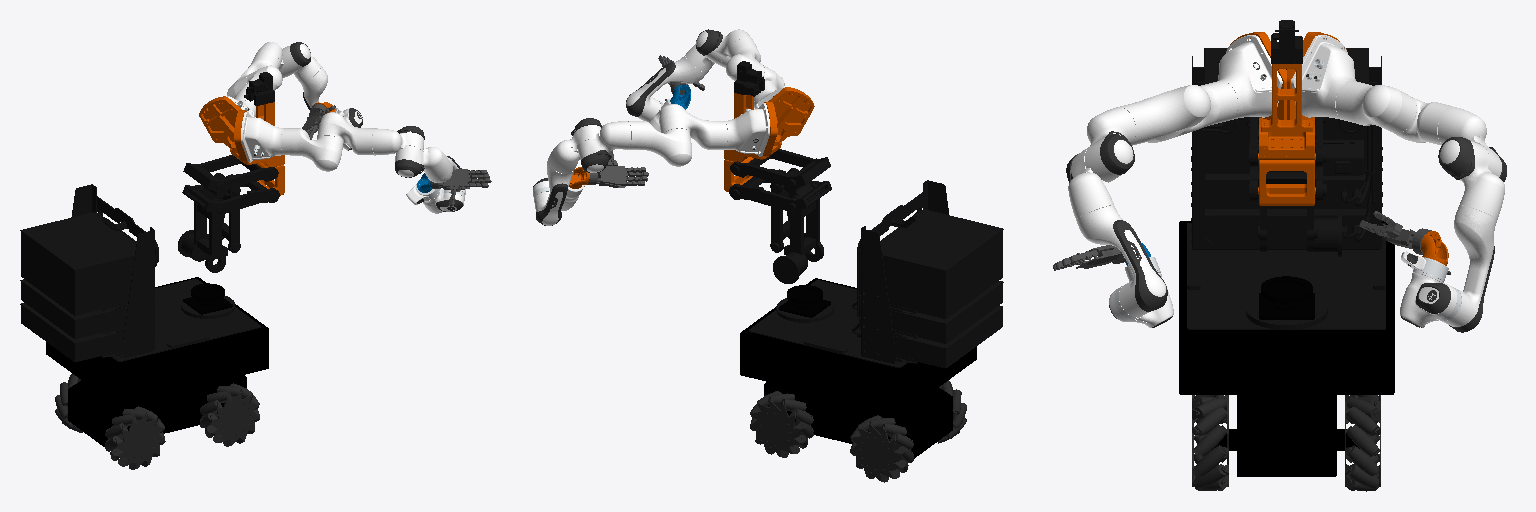
--- Facts derived from the render (not from the file) ---
Views: 3 orthographic renders of the robot side by side, from view 1: azimuth 30°, elevation 25°; view 2: azimuth 150°, elevation 25°; view 3: azimuth 270°, elevation 25°.
Robot: curi — 114 links, 113 joints (91 revolute, 4 continuous, 17 fixed, 1 floating); root link world; default pose: joints at zero except 2 at the middle of their limits (panda_left_joint4 = -1.57, panda_right_joint4 = -1.57).
Visible links, largest first — view 1: control_box, summit_xls_base_link, torso_end, summit_xls_back_right_wheel_link, summit_xls_front_right_wheel_link, torso_link_b2, panda_right_link1, torso_link_c2, panda_right_link0, torso_link_c1, panda_right_link4, panda_right_link2 (+8 smaller); view 2: control_box, summit_xls_base_link, torso_end, summit_xls_back_left_wheel_link, summit_xls_front_left_wheel_link, torso_link_b2, panda_right_link5, panda_left_link2, torso_link_c2, panda_left_link1, panda_left_link0, panda_left_link3 (+9 smaller); view 3: control_box, summit_xls_base_link, torso_end, panda_right_link5, panda_left_link5, panda_right_link0, panda_left_link0, summit_xls_front_right_wheel_link, panda_right_link2, panda_left_link4, summit_xls_front_left_wheel_link, panda_left_link1 (+16 smaller).
Link boxes in pixels (x1,y1,x2,y2): control_box: (20, 184, 260, 361); summit_xls_base_link: (46, 277, 268, 446); torso_end: (199, 96, 284, 195); summit_xls_back_right_wheel_link: (105, 406, 165, 469); summit_xls_front_right_wheel_link: (200, 383, 259, 446); torso_link_b2: (178, 187, 227, 272); panda_right_link1: (281, 128, 342, 171); torso_link_c2: (183, 155, 278, 192); panda_right_link0: (241, 112, 283, 162); torso_link_c1: (182, 174, 279, 215); panda_right_link4: (395, 145, 449, 177); panda_right_link2: (317, 112, 375, 155); control_box: (749, 180, 1003, 368); summit_xls_base_link: (740, 278, 976, 458); torso_end: (724, 87, 814, 191); summit_xls_back_left_wheel_link: (850, 415, 913, 482); summit_xls_front_left_wheel_link: (750, 391, 813, 457); torso_link_b2: (773, 183, 823, 283); panda_right_link5: (626, 54, 706, 121); panda_left_link2: (628, 121, 691, 166); torso_link_c2: (730, 149, 830, 188); panda_left_link1: (659, 104, 727, 149); panda_left_link0: (724, 103, 769, 156); panda_left_link3: (578, 121, 630, 172); control_box: (1187, 48, 1385, 329); summit_xls_base_link: (1179, 221, 1394, 476); torso_end: (1227, 32, 1346, 205); panda_right_link5: (1076, 205, 1167, 316); panda_left_link5: (1442, 205, 1496, 332); panda_right_link0: (1218, 35, 1282, 120); panda_left_link0: (1291, 35, 1355, 119); summit_xls_front_right_wheel_link: (1192, 397, 1228, 490); panda_right_link2: (1120, 85, 1210, 145); panda_left_link4: (1438, 137, 1504, 219); summit_xls_front_left_wheel_link: (1345, 397, 1380, 491); panda_left_link1: (1336, 81, 1416, 132).
Size in the robot's own frame: 1.76 by 1.22 by 1.51 metres.
75 mesh visuals loaded from 34 distinct referenced files (9 binary STL, 22 Collada DAE); not drawn: 3 (reference not matched to a file when rendering).

URDF robot description (curi):
<?xml version="1.0" ?>
<!-- =================================================================================== -->
<!-- |    This document was autogenerated by xacro from ../robots/curi.urdf.xacro      | -->
<!-- |    EDITING THIS FILE BY HAND IS NOT RECOMMENDED                                 | -->
<!-- =================================================================================== -->
<robot name="curi">
  <!-- in kg-->
  <!-- =============================================================== -->
  <!-- || This file does not contain official inertial properties   || -->
  <!-- || of panda robot. The values are from the identification    || -->
  <!-- || results published in: Identification of the Franka Emika  || -->
  <!-- || PandaRobot With Retrieval of Feasible Parameters Using    || -->
  <!-- || Penalty-Based Optimization                                || -->
  <!-- || by: Claudio Gaz, Marco Cognetti, Alexander Oliva,         || -->
  <!-- || Paolo Robuffo Giordano, Alessandro de Luca                || -->
  <!-- =============================================================== -->
  <link name="world"/>
  <material name="qbhand/optional">
  <color rgba="0.0 0.5 0.8 1.0"/>
  </material>
  <material name="qbhand/base">
    <color rgba="0.35 0.35 0.35 1.0"/>
  </material>
  <material name="qbhand/palm">
    <color rgba="0.35 0.35 0.35 1.0"/>
  </material>
  <material name="qbhand/knuckle">
    <color rgba="0.35 0.35 0.35 1.0"/>
  </material>
  <material name="qbhand/proximal">
    <color rgba="0.35 0.35 0.35 1.0"/>
  </material>
  <material name="qbhand/middle">
    <color rgba="0.35 0.35 0.35 1.0"/>
  </material>
  <material name="qbhand/distal">
    <color rgba="0.35 0.35 0.35 1.0"/>
  </material>
  <material name="qbhand/default">
    <color rgba="0.35 0.35 0.35 1.0"/>
  </material>
  <joint name="reference" type="floating">
    <parent link="world"/>
    <child link="summit_xls_base_footprint"/>
  </joint>
  <link name="summit_xls_base_footprint">
    <visual>
      <origin rpy="0 0 0" xyz="0 0 0"/>
      <geometry>
        <box size="0.001 0.001 0.001"/>
      </geometry>
    </visual>
  </link>
  <joint name="summit_xls_base_footprint_joint" type="fixed">
    <origin rpy="0 0 0" xyz="0 0 0.127"/>
    <parent link="summit_xls_base_footprint"/>
    <child link="summit_xls_base_link"/>
  </joint>
  <!-- BASE_LINK -->
  <link name="summit_xls_base_link">
    <inertial>
      <mass value="125.0"/>
      <origin xyz="0 0 0"/>
      <inertia ixx="1.391" ixy="0.004" ixz="0.0" iyy="6.853" iyz="0.0" izz="6.125"/>
    </inertial>
    <visual>
      <origin rpy="0 0 0" xyz="0 0 0"/>
      <geometry>
        <mesh filename="../meshes/robotnik/bases/summit_xls_chassis.dae"/>
      </geometry>
      <material name="black">
        <color rgba="0.0 0.0 0.0 1"/>
      </material>
    </visual>
    <collision>
      <origin rpy="0 0 0 " xyz="0 0 0"/>
      <geometry>
        <mesh filename="../meshes/robotnik/bases/summit_xls_chassis.stl"/>
      </geometry>
    </collision>
  </link>
  <joint name="summit_xls_front_right_wheel_joint" type="continuous">
    <parent link="summit_xls_base_link"/>
    <child link="summit_xls_front_right_wheel_link"/>
    <origin rpy="0 0 0" xyz="0.2225 -0.2045 0.0"/>
    <axis rpy="0 0 0" xyz="0 1 0"/>
    <limit effort="100" velocity="100"/>
    <joint_properties damping="0.0" friction="0.0"/>
  </joint>
  <link name="summit_xls_front_right_wheel_link">
    <visual>
      <origin rpy="0 0 0" xyz="0 0 0"/>
      <geometry>
        <mesh filename="../meshes/robotnik/wheels/omni_wheel_2.dae"/>
      </geometry>
      <material name="darkgrey">
        <color rgba="0.2 0.2 0.2 1"/>
      </material>
    </visual>
    <collision>
      <origin rpy="1.5707963267948966 0 0" xyz="0 0 0"/>
      <geometry>
        <cylinder length="0.087" radius="0.127"/>
      </geometry>
    </collision>
    <inertial>
      <mass value="6.5"/>
      <origin xyz="0 0 0"/>
      <inertia ixx="0.0303095" ixy="0" ixz="0" iyy="0.05241925" iyz="0" izz="0.0303095"/>
    </inertial>
  </link>
  <joint name="summit_xls_front_left_wheel_joint" type="continuous">
    <parent link="summit_xls_base_link"/>
    <child link="summit_xls_front_left_wheel_link"/>
    <origin rpy="0 0 0" xyz="0.2225 0.2045 0.0"/>
    <axis rpy="0 0 0" xyz="0 1 0"/>
    <limit effort="100" velocity="100"/>
    <joint_properties damping="0.0" friction="0.0"/>
  </joint>
  <link name="summit_xls_front_left_wheel_link">
    <visual>
      <origin rpy="0 0 0" xyz="0 0 0"/>
      <geometry>
        <mesh filename="../meshes/robotnik/wheels/omni_wheel_1.dae"/>
      </geometry>
      <material name="darkgrey">
        <color rgba="0.2 0.2 0.2 1"/>
      </material>
    </visual>
    <collision>
      <origin rpy="1.5707963267948966 0 0" xyz="0 0 0"/>
      <geometry>
        <cylinder length="0.087" radius="0.127"/>
      </geometry>
    </collision>
    <inertial>
      <mass value="6.5"/>
      <origin xyz="0 0 0"/>
      <inertia ixx="0.0303095" ixy="0" ixz="0" iyy="0.05241925" iyz="0" izz="0.0303095"/>
    </inertial>
  </link>
  <joint name="summit_xls_back_left_wheel_joint" type="continuous">
    <parent link="summit_xls_base_link"/>
    <child link="summit_xls_back_left_wheel_link"/>
    <origin rpy="0 0 0" xyz="-0.2225 0.2045 0.0"/>
    <axis rpy="0 0 0" xyz="0 1 0"/>
    <limit effort="100" velocity="100"/>
    <joint_properties damping="0.0" friction="0.0"/>
  </joint>
  <link name="summit_xls_back_left_wheel_link">
    <visual>
      <origin rpy="0 0 0" xyz="0 0 0"/>
      <geometry>
        <mesh filename="../meshes/robotnik/wheels/omni_wheel_1.dae"/>
      </geometry>
      <material name="darkgrey">
        <color rgba="0.2 0.2 0.2 1"/>
      </material>
    </visual>
    <collision>
      <origin rpy="1.5707963267948966 0 0" xyz="0 0 0"/>
      <geometry>
        <cylinder length="0.087" radius="0.127"/>
      </geometry>
    </collision>
    <inertial>
      <mass value="6.5"/>
      <origin xyz="0 0 0"/>
      <inertia ixx="0.0303095" ixy="0" ixz="0" iyy="0.05241925" iyz="0" izz="0.0303095"/>
    </inertial>
  </link>
  <joint name="summit_xls_back_right_wheel_joint" type="continuous">
    <parent link="summit_xls_base_link"/>
    <child link="summit_xls_back_right_wheel_link"/>
    <origin rpy="0 0 0" xyz="-0.2225 -0.2045 0.0"/>
    <axis rpy="0 0 0" xyz="0 1 0"/>
    <limit effort="100" velocity="100"/>
    <joint_properties damping="0.0" friction="0.0"/>
  </joint>
  <link name="summit_xls_back_right_wheel_link">
    <visual>
      <origin rpy="0 0 0" xyz="0 0 0"/>
      <geometry>
        <mesh filename="../meshes/robotnik/wheels/omni_wheel_2.dae"/>
      </geometry>
      <material name="darkgrey">
        <color rgba="0.2 0.2 0.2 1"/>
      </material>
    </visual>
    <collision>
      <origin rpy="1.5707963267948966 0 0" xyz="0 0 0"/>
      <geometry>
        <cylinder length="0.087" radius="0.127"/>
      </geometry>
    </collision>
    <inertial>
      <mass value="6.5"/>
      <origin xyz="0 0 0"/>
      <inertia ixx="0.0303095" ixy="0" ixz="0" iyy="0.05241925" iyz="0" izz="0.0303095"/>
    </inertial>
  </link>
  <joint name="torso_joint_summit_xls_base_footprint" type="fixed">
    <parent link="summit_xls_base_footprint"/>
    <child link="control_box"/>
    <origin rpy="0 0 0" xyz="0 0 0.52262"/>
  </joint>
  <link name="control_box">
    <visual>
      <origin rpy="0 0 0" xyz="0 0 0"/>
      <geometry>
        <mesh filename="../meshes/clover/visual/control_box.dae"/>
      </geometry>
    </visual>
    <inertial>
      <!-- Estimated guesses from CAD -->
      <origin rpy="0 0 0" xyz="-0.221652 1.4173e-02 0.165597"/>
      <mass value="37.813"/>
      <inertia ixx="1.672305973" ixy="-0.023504956" ixz="-0.565170381" iyy="2.616747309" iyz="0.046623093" izz="2.524344244"/>
    </inertial>
  </link>
  <link name="torso_base1">
    <visual>
      <origin rpy="0 0 0" xyz="0 0 0"/>
      <geometry>
        <mesh filename="../meshes/clover/visual/torso_base1.dae"/>
      </geometry>
    </visual>
    <collision>
      <origin rpy="0 0 0" xyz="0 0 0"/>
      <geometry>
        <mesh filename="../meshes/clover/collision/torso_base1.stl"/>
      </geometry>
    </collision>
    <inertial>
      <origin rpy="0 0 0" xyz="0 0 0.02555"/>
      <mass value="1.18"/>
      <inertia ixx="0.00241116" ixy="0" ixz="0" iyy="0.00241116" iyz="0" izz="0.00362611"/>
    </inertial>
  </link>
  <joint name="torso_joint1" type="fixed">
    <origin rpy="0 0 0" xyz="0.2375 0 0.015"/>
    <parent link="control_box"/>
    <child link="torso_base1"/>
  </joint>
  <link name="torso_base2">
    <visual>
      <origin rpy="0 0 0" xyz="0 0 0"/>
      <geometry>
        <mesh filename="../meshes/clover/visual/torso_base2.dae"/>
      </geometry>
    </visual>
    <collision>
      <origin rpy="0 0 0" xyz="0 0 0"/>
      <geometry>
        <mesh filename="../meshes/clover/collision/torso_base2.stl"/>
      </geometry>
    </collision>
    <inertial>
      <origin rpy="0 0 0" xyz="-0.05478 0.03332 -0.07616"/>
      <mass value="35.66"/>
      <inertia ixx="0.87275935" ixy="-0.06173772" ixz="0.01895727" iyy="0.57302356" iyz="0.11888755" izz="1.06212354"/>
    </inertial>
  </link>
  <joint name="torso_actuated_joint1" type="revolute">
    <safety_controller k_position="100.0" k_velocity="40.0" soft_lower_limit="-1.5" soft_upper_limit="1.5"/>
    <origin rpy="0 0 0" xyz="0 0 0.215"/>
    <parent link="torso_base1"/>
    <child link="torso_base2"/>
    <axis xyz="0 0 1"/>
    <limit acceleration="0.6" effort="300" lower="-1.57" upper="1.57" velocity="0.3"/>
    <dynamics D="1" K="7000" damping="0.003" friction="0.0" mu_coulomb="0" mu_viscous="16"/>
  </joint>
  <link name="torso_link_b2">
    <visual>
      <origin rpy="0 0 0" xyz="0 0 0"/>
      <geometry>
        <mesh filename="../meshes/clover/visual/torso_link_b2.dae"/>
      </geometry>
    </visual>
    <collision>
      <origin rpy="0 0 0" xyz="0 0 0"/>
      <geometry>
        <mesh filename="../meshes/clover/collision/torso_link_b2.stl"/>
      </geometry>
    </collision>
    <inertial>
      <origin rpy="0 0 0" xyz="2.066e-03 2.4036e-02 8.3361e-02"/>
      <mass value="2.698"/>
      <inertia ixx="0.035907338" ixy="-0.000134319" ixz="0.000037769" iyy="0.023944853" iyz="-0.005304362" izz="0.014484777"/>
    </inertial>
  </link>
  <joint name="torso_actuated_joint2" type="revolute">
    <safety_controller k_position="100.0" k_velocity="40.0" soft_lower_limit="-1.2" soft_upper_limit="0.5"/>
    <origin rpy="0 0 0" xyz="0 0 0"/>
    <parent link="torso_base2"/>
    <child link="torso_link_b2"/>
    <axis xyz="0 1 0"/>
    <limit acceleration="0.6" effort="300" lower="-1.2" upper="0.5" velocity="0.3"/>
    <dynamics D="1" K="7000" damping="0.003" friction="0.0" mu_coulomb="0" mu_viscous="16"/>
  </joint>
  <link name="torso_middle">
    <visual>
      <origin rpy="0 0 0" xyz="0 0 0"/>
      <geometry>
        <mesh filename="../meshes/clover/visual/torso_middle.dae"/>
      </geometry>
    </visual>
    <collision>
      <origin rpy="0 0 0" xyz="0 0 0"/>
      <geometry>
        <mesh filename="../meshes/clover/collision/torso_middle.stl"/>
      </geometry>
    </collision>
    <inertial>
      <origin rpy="0 0 0" xyz="3.2089e-02 0 4.789e-02"/>
      <mass value="2.688"/>
      <inertia ixx="0.00744652" ixy="-0.00003495" ixz="0.000230038" iyy="0.006884728" iyz="0.000041279" izz="0.008084049"/>
    </inertial>
  </link>
  <joint name="torso_joint5" type="revolute">
    <safety_controller k_position="100.0" k_velocity="40.0" soft_lower_limit="-0.5" soft_upper_limit="1.2"/>
    <origin rpy="0 0 0" xyz="0 0 0.25"/>
    <parent link="torso_link_b2"/>
    <child link="torso_middle"/>
    <axis xyz="0 1 0"/>
    <limit acceleration="0.6" effort="300" lower="-0.5" upper="1.2" velocity="0.3"/>
    <dynamics D="1" K="7000" damping="0.003" friction="0.0" mu_coulomb="0" mu_viscous="16"/>
    <mimic joint="torso_actuated_joint2" multiplier="-1"/>
  </joint>
  <link name="torso_link_c1">
    <visual>
      <origin rpy="0 0 0" xyz="0 0 0"/>
      <geometry>
        <mesh filename="../meshes/clover/visual/torso_link_c1.dae"/>
      </geometry>
    </visual>
    <collision>
      <origin rpy="0 0 0" xyz="0 0 0"/>
      <geometry>
        <mesh filename="../meshes/clover/collision/torso_link_c1.stl"/>
      </geometry>
    </collision>
    <inertial>
      <origin rpy="0 0 0" xyz="0.10533 1.503e-03 9.863e-03"/>
      <mass value="2.4"/>
      <inertia ixx="0.014986407" ixy="-1.7102e-05" ixz="-4.53321e-04" iyy="0.027549549" iyz="-3.557e-05" izz="0.041344611"/>
    </inertial>
  </link>
  <joint name="torso_actuated_joint3" type="revolute">
    <safety_controller k_position="100.0" k_velocity="40.0" soft_lower_limit="-0.9" soft_upper_limit="0.9"/>
    <origin rpy="0 0 0" xyz="0 0 0"/>
    <parent link="torso_middle"/>
    <child link="torso_link_c1"/>
    <axis xyz="0 1 0"/>
    <limit acceleration="0.6" effort="300" lower="-0.9" upper="0.9" velocity="0.3"/>
    <dynamics D="1" K="7000" damping="0.003" friction="0.0" mu_coulomb="0" mu_viscous="16"/>
  </joint>
  <link name="torso_end">
    <visual>
      <origin rpy="0 0 0" xyz="0 0 0"/>
      <geometry>
        <mesh filename="../meshes/clover/visual/torso_end_v2.dae"/>
      </geometry>
    </visual>
    <collision>
      <origin rpy="0 0 0" xyz="0 0 0"/>
      <geometry>
        <mesh filename="../meshes/clover/collision/torso_end_v2.stl"/>
      </geometry>
    </collision>
    <inertial>
      <origin rpy="0 0 0" xyz="1.3086e-02 0.132e-03 0.184066"/>
      <mass value="12.083"/>
      <inertia ixx="0.146638956" ixy="-2.2432e-05" ixz="-0.012989506" iyy="0.097685785" iyz="-2.19304e-04" izz="0.100449047"/>
    </inertial>
  </link>
  <joint name="torso_joint8" type="revolute">
    <safety_controller k_position="100.0" k_velocity="40.0" soft_lower_limit="-0.9" soft_upper_limit="0.9"/>
    <origin rpy="0 0 0" xyz="0.25 0 0"/>
    <parent link="torso_link_c1"/>
    <child link="torso_end"/>
    <axis xyz="0 1 0"/>
    <limit acceleration="0.6" effort="300" lower="-0.9" upper="0.9" velocity="0.3"/>
    <dynamics D="1" K="7000" damping="0.003" friction="0.0" mu_coulomb="0" mu_viscous="16"/>
    <mimic joint="torso_actuated_joint3" multiplier="-1"/>
  </joint>
  <link name="torso_link_b1">
    <visual>
      <origin rpy="0 0 0" xyz="0 0 0"/>
      <geometry>
        <mesh filename="../meshes/clover/visual/torso_link_b1.dae"/>
      </geometry>
    </visual>
    <collision>
      <origin rpy="0 0 0" xyz="0 0 0"/>
      <geometry>
        <mesh filename="../meshes/clover/collision/torso_link_b1.stl"/>
      </geometry>
    </collision>
    <inertial>
      <origin rpy="0 0 0" xyz="0 -0.362e-03 0.12405"/>
      <mass value="1.319"/>
      <inertia ixx="0.01417626" ixy="0" ixz="0" iyy="0.01069895" iyz="0.00005678" izz="0.0039678"/>
    </inertial>
  </link>
  <joint name="torso_joint4" type="revolute">
    <safety_controller k_position="100.0" k_velocity="40.0" soft_lower_limit="-1.2" soft_upper_limit="0.5"/>
    <origin rpy="0 0 0" xyz="0.0866 0 0.05"/>
    <parent link="torso_base2"/>
    <child link="torso_link_b1"/>
    <axis xyz="0 1 0"/>
    <limit acceleration="0.6" effort="300" lower="-1.2" upper="0.5" velocity="0.3"/>
    <dynamics D="1" K="7000" damping="0.003" friction="0.0" mu_coulomb="0" mu_viscous="16"/>
    <mimic joint="torso_actuated_joint2" multiplier="1"/>
  </joint>
  <link name="torso_link_c2">
    <visual>
      <origin rpy="0 0 0" xyz="0 0 0"/>
      <geometry>
        <mesh filename="../meshes/clover/visual/torso_link_c2.dae"/>
      </geometry>
    </visual>
    <collision>
      <origin rpy="0 0 0" xyz="0 0 0"/>
      <geometry>
        <mesh filename="../meshes/clover/collision/torso_link_c2.stl"/>
      </geometry>
    </collision>
    <inertial>
      <origin rpy="0 0 0" xyz="0.120384 0.569e-03 6.703e-03"/>
      <mass value="2.148"/>
      <inertia ixx="0.010693997" ixy="5.645e-06" ixz="-9.4779e-04" iyy="0.026717753" iyz="-8.196e-06" izz="0.036543169"/>
    </inertial>
  </link>
  <joint name="torso_joint7" type="revolute">
    <safety_controller k_position="100.0" k_velocity="40.0" soft_lower_limit="-0.9" soft_upper_limit="0.9"/>
    <origin rpy="0 0 0" xyz="0 0 0.1"/>
    <parent link="torso_middle"/>
    <child link="torso_link_c2"/>
    <axis xyz="0 1 0"/>
    <limit acceleration="0.6" effort="300" lower="-0.9" upper="0.9" velocity="0.3"/>
    <dynamics D="1" K="7000" damping="0.003" friction="0.0" mu_coulomb="0" mu_viscous="16"/>
    <mimic joint="torso_actuated_joint3" multiplier="1"/>
  </joint>
  <link name="shell">
    <visual>
      <origin rpy="0 0 0" xyz="0 0 0"/>
      <geometry>
        <mesh filename="../meshes/clover/visual/Shell_v2_Share_zup.dae"/>
      </geometry>
    </visual>
    <collision>
      <origin rpy="0 0 0" xyz="0 0 0"/>
      <geometry>
        <mesh filename="../meshes/clover/collision/Shell_v2_Share_zup.STL"/>
      </geometry>
    </collision>
    <inertial>
      <origin rpy="0 0 0" xyz="-5.05e-03 -0.09e-03 0.27614"/>
      <mass value="1.63531"/>
      <inertia ixx="0.010693997" ixy="5.645e-06" ixz="-9.4779e-04" iyy="0.026717753" iyz="-8.196e-06" izz="0.036543169"/>
    </inertial>
  </link>
  <joint name="shell_torso_end" type="fixed">
    <parent link="torso_end"/>
    <child link="shell"/>
    <origin rpy="0 0 0" xyz="0 0 0"/>
  </joint>
  <joint name="head_joint_torso_end" type="fixed">
    <parent link="torso_end"/>
    <child link="head_base"/>
    <origin rpy="0 0 0" xyz="0.02 0 0.3929"/>
  </joint>
  <link name="head_base">
    <visual>
      <origin rpy="0 0 0" xyz="0 0 0"/>
      <geometry>
        <mesh filename="../meshes/clover/visual/head_base.dae"/>
      </geometry>
    </visual>
    <collision>
      <origin rpy="0 0 0" xyz="0 0 0"/>
      <geometry>
        <mesh filename="../meshes/clover/collision/head_base.stl"/>
      </geometry>
    </collision>
    <inertial>
      <!-- Estimated guesses from CAD -->
      <origin rpy="0 0 0" xyz="-1.9726e-02 1.281e-03 2.2693e-02"/>
      <mass value="0.803"/>
      <inertia ixx="6.56432e-04" ixy="-3.4976e-05" ixz="0.652e-6" iyy="6.42664e-04" iyz="-1.577e-06" izz="1.046862e-03"/>
    </inertial>
  </link>
  <joint name="head_actuated_joint1" type="revolute">
    <safety_controller k_position="100.0" k_velocity="40.0" soft_lower_limit="-1.5" soft_upper_limit="1.5"/>
    <origin rpy="0 0 0" xyz="0 0 0.045"/>
    <parent link="head_base"/>
    <child link="head_link1"/>
    <axis xyz="0 0 1"/>
    <limit effort="30" lower="-1.57" upper="1.57" velocity="1.0"/>
    <dynamics D="1" K="7000" damping="0.003" friction="0.0" mu_coulomb="0" mu_viscous="16"/>
  </joint>
  <link name="head_link1">
    <visual>
      <origin rpy="0 0 0" xyz="0 0 0"/>
      <geometry>
        <mesh filename="../meshes/clover/visual/head_link1.dae"/>
      </geometry>
    </visual>
    <collision>
      <origin rpy="0 0 0" xyz="0 0 0"/>
      <geometry>
        <mesh filename="../meshes/clover/collision/head_link1.stl"/>
      </geometry>
    </collision>
    <inertial>
      <!-- Estimated guesses from CAD -->
      <origin rpy="0 0 0" xyz="-1.8392e-02 -0.4e-03 2.8338e-02"/>
      <mass value="0.534"/>
      <inertia ixx="2.34142e-04" ixy="-3.129e-06" ixz="6.321e-05" iyy="5.09246e-04" iyz="1.49e-06" izz="4.3777e-04"/>
    </inertial>
  </link>
  <joint name="head_actuated_joint2" type="revolute">
    <safety_controller k_position="100.0" k_velocity="40.0" soft_lower_limit="-0.8" soft_upper_limit="0.5"/>
    <origin rpy="0 0 0" xyz="0 0 0.043"/>
    <parent link="head_link1"/>
    <child link="head_link2"/>
    <axis xyz="0 1 0"/>
    <limit effort="30" lower="-0.82" upper="0.52" velocity="1.0"/>
    <dynamics D="1" K="7000" damping="0.003" friction="0.0" mu_coulomb="0" mu_viscous="16"/>
  </joint>
  <link name="head_link2">
    <visual>
      <origin rpy="0 0 0" xyz="0 0 0"/>
      <geometry>
        <mesh filename="../meshes/clover/visual/head_link2.dae"/>
      </geometry>
    </visual>
    <collision>
      <origin rpy="0 0 0" xyz="0 0 0"/>
      <geometry>
        <mesh filename="../meshes/clover/collision/head_link2.stl"/>
      </geometry>
    </collision>
    <inertial>
      <!-- Estimated guesses from CAD -->
      <origin rpy="0 0 0" xyz="3.8624e-02 0 0.143829"/>
      <mass value="1.346"/>
      <inertia ixx="0.010306864" ixy="-5.953e-06" ixz="6.74795e-04" iyy="0.011632066" iyz="-1.125e-06" izz="0.009582498"/>
    </inertial>
  </link>
  <joint name="panda_left_joint_torso_end" type="fixed">
    <parent link="torso_end"/>
    <child link="panda_left_link0"/>
    <origin rpy="-1.3685238493647454 0.913218224774749 -0.6168337646727412" xyz="-0.08537 0.07009 0.2535"/>
  </joint>
  <link name="panda_left_link0">
    <visual>
      <origin rpy="0 0 0" xyz="0 0 0"/>
      <geometry>
        <mesh filename="../meshes/franka/visual/link0.dae"/>
      </geometry>
    </visual>
    <collision>
      <origin rpy="0 0 0" xyz="0 0 0"/>
      <geometry>
        <mesh filename="../meshes/franka/collision/link0.stl"/>
      </geometry>
    </collision>
    <inertial>
      <!-- Estimated guesses from CAD -->
      <origin rpy="0 0 0" xyz="-0.041018 -0.00014 0.049974"/>
      <mass value="0.629769"/>
      <inertia ixx="0.00315" ixy="8.2904E-07" ixz="0.00015" iyy="0.00388" iyz="8.2299E-06" izz="0.004285"/>
    </inertial>
  </link>
  <link name="panda_left_link1">
    <visual>
      <origin rpy="0 0 0" xyz="0 0 0"/>
      <geometry>
        <mesh filename="../meshes/franka/visual/link1.dae"/>
      </geometry>
    </visual>
    <collision>
      <origin rpy="0 0 0" xyz="0 0 0"/>
      <geometry>
        <mesh filename="../meshes/franka/collision/link1.stl"/>
      </geometry>
    </collision>
    <inertial>
      <origin rpy="0 0 0" xyz="0.003875 0.002081 -0.04762"/>
      <mass value="4.970684"/>
      <inertia ixx="0.70337" ixy="-0.00013900" ixz="0.0067720" iyy="0.70661" iyz="0.019169" izz="0.0091170"/>
    </inertial>
  </link>
  <joint name="panda_left_joint1" type="revolute">
    <safety_controller k_position="100.0" k_velocity="40.0" soft_lower_limit="-2.8973" soft_upper_limit="2.8973"/>
    <origin rpy="0 0 0" xyz="0 0 0.333"/>
    <parent link="panda_left_link0"/>
    <child link="panda_left_link1"/>
    <axis xyz="0 0 1"/>
    <limit acceleration="15" effort="87" lower="-2.8973" upper="2.8973" velocity="2.1750"/>
    <dynamics D="1" K="7000" damping="0.003" friction="0.0" mu_coulomb="0" mu_viscous="16"/>
  </joint>
  <link name="panda_left_link2">
    <visual>
      <origin rpy="0 0 0" xyz="0 0 0"/>
      <geometry>
        <mesh filename="../meshes/franka/visual/link2.dae"/>
      </geometry>
    </visual>
    <collision>
      <origin rpy="0 0 0" xyz="0 0 0"/>
      <geometry>
        <mesh filename="../meshes/franka/collision/link2.stl"/>
      </geometry>
    </collision>
    <inertial>
      <origin rpy="0 0 0" xyz=" -0.003141 -0.02872  0.003495"/>
      <mass value="0.646926"/>
      <inertia ixx="0.0079620" ixy="-3.9250e-3" ixz="1.0254e-02" iyy="2.8110e-02" iyz="7.0400e-04" izz="2.5995e-02"/>
    </inertial>
  </link>
  <joint name="panda_left_joint2" type="revolute">
    <safety_controller k_position="100.0" k_velocity="40.0" soft_lower_limit="-1.7628" soft_upper_limit="1.7628"/>
    <origin rpy="-1.5707963267948966 0 0" xyz="0 0 0"/>
    <parent link="panda_left_link1"/>
    <child link="panda_left_link2"/>
    <axis xyz="0 0 1"/>
    <limit acceleration="7.5" effort="87" lower="-1.7628" upper="1.7628" velocity="2.1750"/>
    <dynamics D="1" K="7000" damping="0.003" friction="0.0" mu_coulomb="0" mu_viscous="16"/>
  </joint>
  <link name="panda_left_link3">
    <visual>
      <origin rpy="0 0 0" xyz="0 0 0"/>
      <geometry>
        <mesh filename="../meshes/franka/visual/link3.dae"/>
      </geometry>
    </visual>
    <collision>
      <origin rpy="0 0 0" xyz="0 0 0"/>
      <geometry>
        <mesh filename="../meshes/franka/collision/link3.stl"/>
      </geometry>
    </collision>
    <inertial>
      <origin rpy="0 0 0" xyz="2.7518e-02 3.9252e-02 -6.6502e-02"/>
      <mass value="3.228604"/>
      <inertia ixx="3.7242e-02" ixy="-4.7610e-03" ixz="-1.1396e-02" iyy="3.6155e-02" iyz="-1.2805e-02" izz="1.0830e-02"/>
    </inertial>
  </link>
  <joint name="panda_left_joint3" type="revolute">
    <safety_controller k_position="100.0" k_velocity="40.0" soft_lower_limit="-2.8973" soft_upper_limit="2.8973"/>
    <origin rpy="1.5707963267948966 0 0" xyz="0 -0.316 0"/>
    <parent link="panda_left_link2"/>
    <child link="panda_left_link3"/>
    <axis xyz="0 0 1"/>
    <limit acceleration="12.5" effort="87" lower="-2.8973" upper="2.8973" velocity="2.1750"/>
    <dynamics D="1" K="7000" damping="0.003" friction="0.0" mu_coulomb="0" mu_viscous="16"/>
  </joint>
  <link name="panda_left_link4">
    <visual>
      <origin rpy="0 0 0" xyz="0 0 0"/>
      <geometry>
        <mesh filename="../meshes/franka/visual/link4.dae"/>
      </geometry>
    </visual>
    <collision>
      <origin rpy="0 0 0" xyz="0 0 0"/>
      <geometry>
        <mesh filename="../meshes/franka/collision/link4.stl"/>
      </geometry>
    </collision>
    <inertial>
      <origin rpy="0 0 0" xyz="-5.317e-02 1.04419e-01 2.7454e-02"/>
      <mass value="3.587895"/>
      <inertia ixx="2.5853e-02" ixy="7.7960e-03" ixz="-1.3320e-03" iyy="1.9552e-02" iyz="8.6410e-03" izz="2.8323e-02"/>
    </inertial>
  </link>
  <joint name="panda_left_joint4" type="revolute">
    <safety_controller k_position="100.0" k_velocity="40.0" soft_lower_limit="-3.0718" soft_upper_limit="-0.0698"/>
    <origin rpy="1.5707963267948966 0 0" xyz="0.0825 0 0"/>
    <parent link="panda_left_link3"/>
    <child link="panda_left_link4"/>
    <axis xyz="0 0 1"/>
    <limit acceleration="12.5" effort="87" lower="-3.0718" upper="-0.0698" velocity="2.1750"/>
    <dynamics D="1" K="7000" damping="0.003" friction="0.0" mu_coulomb="0" mu_viscous="16"/>
  </joint>
  <link name="panda_left_link5">
    <visual>
      <origin rpy="0 0 0" xyz="0 0 0"/>
      <geometry>
        <mesh filename="../meshes/franka/visual/link5.dae"/>
      </geometry>
    </visual>
    <collision>
      <origin rpy="0 0 0" xyz="0 0 0"/>
      <geometry>
        <mesh filename="../meshes/franka/collision/link5.stl"/>
      </geometry>
    </collision>
    <inertial>
      <origin rpy="0 0 0" xyz="-1.1953e-02 4.1065e-02 -3.8437e-02"/>
      <mass value="1.225946"/>
      <inertia ixx="3.5549e-02" ixy="-2.1170e-03" ixz="-4.0370e-03" iyy="2.9474e-02" iyz="2.2900e-04" izz="8.6270e-03"/>
    </inertial>
  </link>
  <joint name="panda_left_joint5" type="revolute">
    <safety_controller k_position="100.0" k_velocity="40.0" soft_lower_limit="-2.8973" soft_upper_limit="2.8973"/>
    <origin rpy="-1.5707963267948966 0 0" xyz="-0.0825 0.384 0"/>
    <parent link="panda_left_link4"/>
    <child link="panda_left_link5"/>
    <axis xyz="0 0 1"/>
    <limit acceleration="15" effort="12" lower="-2.8973" upper="2.8973" velocity="2.6100"/>
    <dynamics D="1" K="7000" damping="0.003" friction="0.0" mu_coulomb="0" mu_viscous="16"/>
  </joint>
  <link name="panda_left_link6">
    <visual>
      <origin rpy="0 0 0" xyz="0 0 0"/>
      <geometry>
        <mesh filename="../meshes/franka/visual/link6.dae"/>
      </geometry>
    </visual>
    <collision>
      <origin rpy="0 0 0" xyz="0 0 0"/>
      <geometry>
        <mesh filename="../meshes/franka/collision/link6.stl"/>
      </geometry>
    </collision>
    <inertial>
      <origin rpy="0 0 0" xyz="6.0149e-02 -1.4117e-02 -1.0517e-02"/>
      <mass value="1.666555"/>
      <inertia ixx="1.9640e-03" ixy="1.0900e-04" ixz="-1.1580e-03" iyy="4.3540e-03" iyz="3.4100e-04" izz="5.4330e-03"/>
    </inertial>
  </link>
  <joint name="panda_left_joint6" type="revolute">
    <safety_controller k_position="100.0" k_velocity="40.0" soft_lower_limit="-0.0175" soft_upper_limit="3.7525"/>
    <origin rpy="1.5707963267948966 0 0" xyz="0 0 0"/>
    <parent link="panda_left_link5"/>
    <child link="panda_left_link6"/>
    <axis xyz="0 0 1"/>
    <limit acceleration="20" effort="12" lower="-0.0175" upper="3.7525" velocity="2.6100"/>
    <dynamics D="1" K="7000" damping="0.003" friction="0.0" mu_coulomb="0" mu_viscous="16"/>
  </joint>
  <link name="panda_left_link7">
    <visual>
      <origin rpy="0 0 0" xyz="0 0 0"/>
      <geometry>
        <mesh filename="../meshes/franka/visual/link7.dae"/>
      </geometry>
    </visual>
    <collision>
      <origin rpy="0 0 0" xyz="0 0 0"/>
      <geometry>
        <mesh filename="../meshes/franka/collision/link7.stl"/>
      </geometry>
    </collision>
    <inertial>
      <origin rpy="0 0 0" xyz="1.0517e-02 -4.252e-03 6.1597e-02"/>
      <mass value="7.35522e-01"/>
      <inertia ixx="1.2516e-02" ixy="-4.2800e-04" ixz="-1.1960e-03" iyy="1.0027e-02" iyz="-7.4100e-04" izz="4.8150e-03"/>
    </inertial>
  </link>
  <joint name="panda_left_joint7" type="revolute">
    <safety_controller k_position="100.0" k_velocity="40.0" soft_lower_limit="-2.8973" soft_upper_limit="2.8973"/>
    <origin rpy="1.5707963267948966 0 0" xyz="0.088 0 0"/>
    <parent link="panda_left_link6"/>
    <child link="panda_left_link7"/>
    <axis xyz="0 0 1"/>
    <limit acceleration="20" effort="12" lower="-2.8973" upper="2.8973" velocity="2.6100"/>
    <dynamics D="1" K="7000" damping="0.003" friction="0.0" mu_coulomb="0" mu_viscous="16"/>
  </joint>
  <joint name="panda_left_end_effector_joint" type="fixed">
    <parent link="panda_left_link7"/>
    <child link="left_hand_root_link"/>
    <origin rpy="0 0 -0.7853981633974483" xyz="0 0 0.107"/>
  </joint>
  <link name="left_hand_root_link"/>
  <joint name="left_qbhand_flange_joint" type="fixed">
    <origin rpy="0 0 0.7854" xyz="0 0 0"/>
    <parent link="left_hand_root_link"/>
    <child link="flange90_l"/>
  </joint>
  <link name="flange90_l">
    <visual>
      <origin rpy="0 0 0" xyz="0 0 0"/>
      <geometry>
        <mesh filename="../meshes/clover/visual/flange90_zup.dae"/>
      </geometry>
    </visual>
    <collision>
      <origin rpy="0 0 0" xyz="0 0 0"/>
      <geometry>
        <mesh filename="../meshes/clover/visual/flange90_zup.STL"/>
      </geometry>
    </collision>
  </link>
  <joint name="left_qbhand_base_fixed_joint" type="fixed">
    <origin rpy="1.5708 0 1.5708" xyz="0.046 0 0.038"/>
    <parent link="flange90_l"/>
    <child link="left_qbhand_base_link"/>
  </joint>
  <link name="left_qbhand_base_link">
    <inertial>
      <mass value="0.205"/>
      <origin rpy="0 0 0" xyz="0.0 7.8738498e-04 1.5878899e-02"/>
      <inertia ixx="0.00012506929" ixy="0.0" ixz="0.0" iyy="0.0001338779" iyz="0.0" izz="0.00019218394"/>
    </inertial>
    <visual>
      <origin rpy="0 0 0" xyz="0 0 0"/>
      <geometry>
        <mesh filename="../meshes/qbhand/flange_iso_04.stl" scale="0.001 0.001 0.001"/>
      </geometry>
      <material name="qbhand/base">
        <color rgba="0.35 0.35 0.35 1.0"/>
      </material>
    </visual>
    <collision>
      <origin rpy="0 0 0" xyz="0 0 0"/>
      <geometry>
        <mesh filename="../meshes/qbhand/flange_iso_04.stl" scale="0.001 0.001 0.001"/>
      </geometry>
    </collision>
  </link>
  <joint name="left_qbhand_palm_fixed_joint" type="fixed">
    <origin rpy="1.57 0 3.14" xyz="0.0045 0.0145 0.144"/>
    <parent link="left_qbhand_base_link"/>
    <child link="left_qbhand_palm_link"/>
  </joint>
  <link name="left_qbhand_palm_link">
    <inertial>
      <mass value="0.45"/>
      <origin rpy="0 0 0" xyz="0.0030 -0.0449 -0.0135"/>
      <inertia ixx="0.00045" ixy="0.0" ixz="0.0" iyy="0.0006" iyz="0.0" izz="0.00025"/>
    </inertial>
    <visual>
      <origin rpy="0 0 0" xyz="0 0 0"/>
      <geometry>
        <mesh filename="../meshes/qbhand/palm_pinch_l.stl" scale="0.001 0.001 0.001"/>
      </geometry>
      <material name="qbhand/palm">
        <color rgba="0.35 0.35 0.35 1.0"/>
      </material>
    </visual>
    <collision>
      <origin rpy="0 0 0" xyz="0 0 0"/>
      <geometry>
        <mesh filename="../meshes/qbhand/palm_pinch_l.stl" scale="0.001 0.001 0.001"/>
      </geometry>
    </collision>
  </link>
  <joint name="left_qbhand_synergy_joint" type="revolute">
    <origin rpy="0 0 0" xyz="0 0 0"/>
    <parent link="left_qbhand_palm_link"/>
    <child link="left_qbhand_synergy_tendon_virtual_link"/>
    <axis xyz="0 0 1"/>
    <dynamics damping="0.0" friction="0.0"/>
    <limit effort="100" lower="0.0" upper="1.0" velocity="100"/>
  </joint>
  <link name="left_qbhand_synergy_tendon_virtual_link">
    <inertial>
      <origin rpy="0 0 0" xyz="0 0 0"/>
      <mass value="1e-4"/>
      <inertia ixx="1e-9" ixy="0.0" ixz="0.0" iyy="1e-9" iyz="0.0" izz="1e-9"/>
    </inertial>
  </link>
  <joint name="left_qbhand_thumb_knuckle_joint" type="revolute">
    <origin rpy="-1.57 3.14 0.0" xyz="-0.044 -0.0465 0.002"/>
    <parent link="left_qbhand_palm_link"/>
    <child link="left_qbhand_thumb_knuckle_link"/>
    <axis xyz="0 0 -1"/>
    <dynamics damping="0.0" friction="0.0"/>
    <limit effort="100" lower="0.0" upper="1.571" velocity="100"/>
    <mimic joint="left_qbhand_synergy_joint" multiplier="2.542"/>
  </joint>
  <link name="left_qbhand_thumb_knuckle_link">
    <inertial>
      <mass value="0.01"/>
      <origin rpy="0 0 0" xyz="1.3071561e-02 2.7346340e-03 6.4090487e-04"/>
      <inertia ixx="3.5827953e-07" ixy="-2.0934657e-07" ixz="-6.8435459e-08" iyy="1.3882698e-06" iyz="-3.2001578e-08" izz="1.3570267e-06"/>
    </inertial>
    <visual>
      <origin rpy="0 0 0" xyz="0 0 0"/>
      <geometry>
        <mesh filename="../meshes/qbhand/ph_thumb_l.stl" scale="0.001 0.001 0.001"/>
      </geometry>
      <material name="qbhand/knuckle">
        <color rgba="0.35 0.35 0.35 1.0"/>
      </material>
    </visual>
    <collision>
      <origin rpy="0 0 0" xyz="0 0 0"/>
      <geometry>
        <mesh filename="../meshes/qbhand/ph_thumb_l_collision.stl" scale="0.001 0.001 0.001"/>
      </geometry>
    </collision>
  </link>
  <joint name="left_qbhand_thumb_proximal_joint" type="revolute">
    <origin rpy="-2.0 0.0 0.0" xyz="0.0255 0.0038 -0.00012"/>
    <parent link="left_qbhand_thumb_knuckle_link"/>
    <child link="left_qbhand_thumb_proximal_virtual_link"/>
    <axis xyz="0 0 -1"/>
    <dynamics damping="0.0" friction="0.0"/>
    <limit effort="100" lower="0.0" upper="0.785" velocity="100"/>
    <mimic joint="left_qbhand_synergy_joint" multiplier="0.785"/>
  </joint>
  <link name="left_qbhand_thumb_proximal_virtual_link">
    <inertial>
      <origin rpy="0 0 0" xyz="0 0 0"/>
      <mass value="1e-4"/>
      <inertia ixx="1e-9" ixy="0.0" ixz="0.0" iyy="1e-9" iyz="0.0" izz="1e-9"/>
    </inertial>
  </link>
  <joint name="left_qbhand_thumb_proximal_virtual_joint" type="revolute">
    <origin rpy="0 0 0" xyz="0.013 0 0"/>
    <parent link="left_qbhand_thumb_proximal_virtual_link"/>
    <child link="left_qbhand_thumb_proximal_link"/>
    <axis xyz="0 0 -1"/>
    <dynamics damping="0.0" friction="0.0"/>
    <limit effort="100" lower="0.0" upper="0.785" velocity="100"/>
    <mimic joint="left_qbhand_thumb_proximal_joint" multiplier="1.0"/>
  </joint>
  <link name="left_qbhand_thumb_proximal_link">
    <inertial>
      <mass value="0.0063"/>
      <origin rpy="0 0 0" xyz="4.7601567e-03 -1.3786947e-03 0.0"/>
      <inertia ixx="1.8024201e-07" ixy="5.756798e-09" ixz="0.0" iyy="2.3516266e-07" iyz="0.0" izz="2.691504e-07"/>
    </inertial>
    <visual>
      <origin rpy="0 0 0" xyz="0 0 0"/>
      <geometry>
        <mesh filename="../meshes/qbhand/ph_short.stl" scale="0.001 0.001 0.001"/>
      </geometry>
      <material name="qbhand/proximal">
        <color rgba="0.35 0.35 0.35 1.0"/>
      </material>
    </visual>
    <collision>
      <origin rpy="0 0 0" xyz="0 0 0"/>
      <geometry>
        <mesh filename="../meshes/qbhand/ph_short_collision.stl" scale="0.001 0.001 0.001"/>
      </geometry>
    </collision>
  </link>
  <joint name="left_qbhand_thumb_distal_joint" type="revolute">
    <origin rpy="0 0 0" xyz="0.009 0 0"/>
    <parent link="left_qbhand_thumb_proximal_link"/>
    <child link="left_qbhand_thumb_distal_virtual_link"/>
    <axis xyz="0 0 -1"/>
    <dynamics damping="0.0" friction="0.0"/>
    <limit effort="100" lower="0.0" upper="0.785" velocity="100"/>
    <mimic joint="left_qbhand_synergy_joint" multiplier="0.785"/>
  </joint>
  <link name="left_qbhand_thumb_distal_virtual_link">
    <inertial>
      <origin rpy="0 0 0" xyz="0 0 0"/>
      <mass value="1e-4"/>
      <inertia ixx="1e-9" ixy="0.0" ixz="0.0" iyy="1e-9" iyz="0.0" izz="1e-9"/>
    </inertial>
  </link>
  <joint name="left_qbhand_thumb_distal_virtual_joint" type="revolute">
    <origin rpy="0 0 0" xyz="0.013 0 0"/>
    <parent link="left_qbhand_thumb_distal_virtual_link"/>
    <child link="left_qbhand_thumb_distal_link"/>
    <axis xyz="0 0 -1"/>
    <dynamics damping="0.0" friction="0.0"/>
    <limit effort="100" lower="0.0" upper="0.785" velocity="100"/>
    <mimic joint="left_qbhand_thumb_distal_joint" multiplier="1.0"/>
  </joint>
  <link name="left_qbhand_thumb_distal_link">
    <inertial>
      <mass value="0.009"/>
      <origin rpy="0 0 0" xyz="8.8025467e-03 -1.7219289e-03 0.0"/>
      <inertia ixx="2.6586142e-07" ixy="1.2416847e-08" ixz="0.0" iyy="5.9935767e-07" iyz="0.0" izz="6.6781963e-07"/>
    </inertial>
    <visual>
      <origin rpy="0 0 0" xyz="0 0 0"/>
      <geometry>
        <mesh filename="../meshes/qbhand/ph_distal.stl" scale="0.001 0.001 0.001"/>
      </geometry>
      <material name="qbhand/distal">
        <color rgba="0.35 0.35 0.35 1.0"/>
      </material>
    </visual>
    <collision>
      <origin rpy="0 0 0" xyz="0 0 0"/>
      <geometry>
        <mesh filename="../meshes/qbhand/ph_distal_collision.stl" scale="0.001 0.001 0.001"/>
      </geometry>
    </collision>
  </link>
  <joint name="left_qbhand_index_knuckle_joint" type="revolute">
    <origin rpy="0 3.14 -1.57" xyz="-0.02 -0.007 -0.014"/>
    <parent link="left_qbhand_palm_link"/>
    <child link="left_qbhand_index_knuckle_link"/>
    <axis xyz="0 0 -1"/>
    <dynamics damping="0.0" friction="0.0"/>
    <limit effort="100" lower="-0.524" upper="0.524" velocity="100"/>
    <mimic joint="left_qbhand_synergy_joint" multiplier="0.2"/>
  </joint>
  <link name="left_qbhand_index_knuckle_link">
    <inertial>
      <mass value="0.0095"/>
      <origin rpy="0 0 0" xyz="4.2753603e-04  0.0 -1.4321738e-03"/>
      <inertia ixx="6.4337303e-07" ixy="0.0" ixz="-3.9373913e-08" iyy="1.1253771e-06" iyz="0.0" izz="7.2336948e-07"/>
    </inertial>
    <visual>
      <origin rpy="0 0 0" xyz="0 0 0"/>
      <geometry>
        <mesh filename="../meshes/qbhand/ph_knuckle.stl" scale="0.001 0.001 0.001"/>
      </geometry>
      <material name="qbhand/knuckle">
        <color rgba="0.35 0.35 0.35 1.0"/>
      </material>
    </visual>
    <collision>
      <origin rpy="0 0 0" xyz="0 0 0"/>
      <geometry>
        <mesh filename="../meshes/qbhand/ph_knuckle_collision.stl" scale="0.001 0.001 0.001"/>
      </geometry>
    </collision>
  </link>
  <joint name="left_qbhand_index_proximal_joint" type="revolute">
    <origin rpy="1.57 0 0" xyz="0.009 0 0"/>
    <parent link="left_qbhand_index_knuckle_link"/>
    <child link="left_qbhand_index_proximal_virtual_link"/>
    <axis xyz="0 0 -1"/>
    <dynamics damping="0.0" friction="0.0"/>
    <limit effort="100" lower="0.0" upper="0.785" velocity="100"/>
    <mimic joint="left_qbhand_synergy_joint" multiplier="0.785"/>
  </joint>
  <link name="left_qbhand_index_proximal_virtual_link">
    <inertial>
      <origin rpy="0 0 0" xyz="0 0 0"/>
      <mass value="1e-4"/>
      <inertia ixx="1e-9" ixy="0.0" ixz="0.0" iyy="1e-9" iyz="0.0" izz="1e-9"/>
    </inertial>
  </link>
  <joint name="left_qbhand_index_proximal_virtual_joint" type="revolute">
    <origin rpy="0 0 0" xyz="0.013 0 0"/>
    <parent link="left_qbhand_index_proximal_virtual_link"/>
    <child link="left_qbhand_index_proximal_link"/>
    <axis xyz="0 0 -1"/>
    <dynamics damping="0.0" friction="0.0"/>
    <limit effort="100" lower="0.0" upper="0.785" velocity="100"/>
    <mimic joint="left_qbhand_index_proximal_joint" multiplier="1.0"/>
  </joint>
  <link name="left_qbhand_index_proximal_link">
    <inertial>
      <mass value="0.0082"/>
      <origin rpy="0 0 0" xyz="8.7707437e-03 -1.7863138e-03 0.0"/>
      <inertia ixx="2.2722068e-07" ixy="1.1586053e-08" ixz="0.0" iyy="5.5947233e-07" iyz="0.0" izz="5.9562195e-07"/>
    </inertial>
    <visual>
      <origin rpy="0 0 0" xyz="0 0 0"/>
      <geometry>
        <mesh filename="../meshes/qbhand/ph_medium.stl" scale="0.001 0.001 0.001"/>
      </geometry>
      <material name="qbhand/proximal">
        <color rgba="0.35 0.35 0.35 1.0"/>
      </material>
    </visual>
    <collision>
      <origin rpy="0 0 0" xyz="0 0 0"/>
      <geometry>
        <mesh filename="../meshes/qbhand/ph_medium_collision.stl" scale="0.001 0.001 0.001"/>
      </geometry>
    </collision>
  </link>
  <joint name="left_qbhand_index_middle_joint" type="revolute">
    <origin rpy="0 0 0" xyz="0.017 0 0"/>
    <parent link="left_qbhand_index_proximal_link"/>
    <child link="left_qbhand_index_middle_virtual_link"/>
    <axis xyz="0 0 -1"/>
    <dynamics damping="0.0" friction="0.0"/>
    <limit effort="100" lower="0.0" upper="0.785" velocity="100"/>
    <mimic joint="left_qbhand_synergy_joint" multiplier="0.785"/>
  </joint>
  <link name="left_qbhand_index_middle_virtual_link">
    <inertial>
      <origin rpy="0 0 0" xyz="0 0 0"/>
      <mass value="1e-4"/>
      <inertia ixx="1e-9" ixy="0.0" ixz="0.0" iyy="1e-9" iyz="0.0" izz="1e-9"/>
    </inertial>
  </link>
  <joint name="left_qbhand_index_middle_virtual_joint" type="revolute">
    <origin rpy="0 0 0" xyz="0.013 0 0"/>
    <parent link="left_qbhand_index_middle_virtual_link"/>
    <child link="left_qbhand_index_middle_link"/>
    <axis xyz="0 0 -1"/>
    <dynamics damping="0.0" friction="0.0"/>
    <limit effort="100" lower="0.0" upper="0.785" velocity="100"/>
    <mimic joint="left_qbhand_index_middle_joint" multiplier="1.0"/>
  </joint>
  <link name="left_qbhand_index_middle_link">
    <inertial>
      <mass value="0.0063"/>
      <origin rpy="0 0 0" xyz="4.7601567e-03 -1.3786947e-03 0.0"/>
      <inertia ixx="1.8024201e-07" ixy="5.756798e-09" ixz="0.0" iyy="2.3516266e-07" iyz="0.0" izz="2.691504e-07"/>
    </inertial>
    <visual>
      <origin rpy="0 0 0" xyz="0 0 0"/>
      <geometry>
        <mesh filename="../meshes/qbhand/ph_short.stl" scale="0.001 0.001 0.001"/>
      </geometry>
      <material name="qbhand/middle">
        <color rgba="0.35 0.35 0.35 1.0"/>
      </material>
    </visual>
    <collision>
      <origin rpy="0 0 0" xyz="0 0 0"/>
      <geometry>
        <mesh filename="../meshes/qbhand/ph_short_collision.stl" scale="0.001 0.001 0.001"/>
      </geometry>
    </collision>
  </link>
  <joint name="left_qbhand_index_distal_joint" type="revolute">
    <origin rpy="0 0 0" xyz="0.009 0 0"/>
    <parent link="left_qbhand_index_middle_link"/>
    <child link="left_qbhand_index_distal_virtual_link"/>
    <axis xyz="0 0 -1"/>
    <dynamics damping="0.0" friction="0.0"/>
    <limit effort="100" lower="0.0" upper="0.785" velocity="100"/>
    <mimic joint="left_qbhand_synergy_joint" multiplier="0.785"/>
  </joint>
  <link name="left_qbhand_index_distal_virtual_link">
    <inertial>
      <origin rpy="0 0 0" xyz="0 0 0"/>
      <mass value="1e-4"/>
      <inertia ixx="1e-9" ixy="0.0" ixz="0.0" iyy="1e-9" iyz="0.0" izz="1e-9"/>
    </inertial>
  </link>
  <joint name="left_qbhand_index_distal_virtual_joint" type="revolute">
    <origin rpy="0 0 0" xyz="0.013 0 0"/>
    <parent link="left_qbhand_index_distal_virtual_link"/>
    <child link="left_qbhand_index_distal_link"/>
    <axis xyz="0 0 -1"/>
    <dynamics damping="0.0" friction="0.0"/>
    <limit effort="100" lower="0.0" upper="0.785" velocity="100"/>
    <mimic joint="left_qbhand_index_distal_joint" multiplier="1.0"/>
  </joint>
  <link name="left_qbhand_index_distal_link">
    <inertial>
      <mass value="0.009"/>
      <origin rpy="0 0 0" xyz="8.8025467e-03 -1.7219289e-03 0.0"/>
      <inertia ixx="2.6586142e-07" ixy="1.2416847e-08" ixz="0.0" iyy="5.9935767e-07" iyz="0.0" izz="6.6781963e-07"/>
    </inertial>
    <visual>
      <origin rpy="0 0 0" xyz="0 0 0"/>
      <geometry>
        <mesh filename="../meshes/qbhand/ph_distal.stl" scale="0.001 0.001 0.001"/>
      </geometry>
      <material name="qbhand/distal">
        <color rgba="0.35 0.35 0.35 1.0"/>
      </material>
    </visual>
    <collision>
      <origin rpy="0 0 0" xyz="0 0 0"/>
      <geometry>
        <mesh filename="../meshes/qbhand/ph_distal_collision.stl" scale="0.001 0.001 0.001"/>
      </geometry>
    </collision>
  </link>
  <joint name="left_qbhand_middle_knuckle_joint" type="revolute">
    <origin rpy="0 3.14 -1.57" xyz="0 0 -0.014"/>
    <parent link="left_qbhand_palm_link"/>
    <child link="left_qbhand_middle_knuckle_link"/>
    <axis xyz="0 0 -1"/>
    <dynamics damping="0.0" friction="0.0"/>
    <limit effort="100" lower="-0.524" upper="0.524" velocity="100"/>
    <mimic joint="left_qbhand_synergy_joint" multiplier="0.0"/>
  </joint>
  <link name="left_qbhand_middle_knuckle_link">
    <inertial>
      <mass value="0.0095"/>
      <origin rpy="0 0 0" xyz="4.2753603e-04  0.0 -1.4321738e-03"/>
      <inertia ixx="6.4337303e-07" ixy="0.0" ixz="-3.9373913e-08" iyy="1.1253771e-06" iyz="0.0" izz="7.2336948e-07"/>
    </inertial>
    <visual>
      <origin rpy="0 0 0" xyz="0 0 0"/>
      <geometry>
        <mesh filename="../meshes/qbhand/ph_knuckle.stl" scale="0.001 0.001 0.001"/>
      </geometry>
      <material name="qbhand/knuckle">
        <color rgba="0.35 0.35 0.35 1.0"/>
      </material>
    </visual>
    <collision>
      <origin rpy="0 0 0" xyz="0 0 0"/>
      <geometry>
        <mesh filename="../meshes/qbhand/ph_knuckle_collision.stl" scale="0.001 0.001 0.001"/>
      </geometry>
    </collision>
  </link>
  <joint name="left_qbhand_middle_proximal_joint" type="revolute">
    <origin rpy="1.57 0 0" xyz="0.009 0 0"/>
    <parent link="left_qbhand_middle_knuckle_link"/>
    <child link="left_qbhand_middle_proximal_virtual_link"/>
    <axis xyz="0 0 -1"/>
    <dynamics damping="0.0" friction="0.0"/>
    <limit effort="100" lower="0.0" upper="0.785" velocity="100"/>
    <mimic joint="left_qbhand_synergy_joint" multiplier="0.785"/>
  </joint>
  <link name="left_qbhand_middle_proximal_virtual_link">
    <inertial>
      <origin rpy="0 0 0" xyz="0 0 0"/>
      <mass value="1e-4"/>
      <inertia ixx="1e-9" ixy="0.0" ixz="0.0" iyy="1e-9" iyz="0.0" izz="1e-9"/>
    </inertial>
  </link>
  <joint name="left_qbhand_middle_proximal_virtual_joint" type="revolute">
    <origin rpy="0 0 0" xyz="0.013 0 0"/>
    <parent link="left_qbhand_middle_proximal_virtual_link"/>
    <child link="left_qbhand_middle_proximal_link"/>
    <axis xyz="0 0 -1"/>
    <dynamics damping="0.0" friction="0.0"/>
    <limit effort="100" lower="0.0" upper="0.785" velocity="100"/>
    <mimic joint="left_qbhand_middle_proximal_joint" multiplier="1.0"/>
  </joint>
  <link name="left_qbhand_middle_proximal_link">
    <inertial>
      <mass value="0.0082"/>
      <origin rpy="0 0 0" xyz="8.7707437e-03 -1.7863138e-03 0.0"/>
      <inertia ixx="2.2722068e-07" ixy="1.1586053e-08" ixz="0.0" iyy="5.5947233e-07" iyz="0.0" izz="5.9562195e-07"/>
    </inertial>
    <visual>
      <origin rpy="0 0 0" xyz="0 0 0"/>
      <geometry>
        <mesh filename="../meshes/qbhand/ph_medium.stl" scale="0.001 0.001 0.001"/>
      </geometry>
      <material name="qbhand/proximal">
        <color rgba="0.35 0.35 0.35 1.0"/>
      </material>
    </visual>
    <collision>
      <origin rpy="0 0 0" xyz="0 0 0"/>
      <geometry>
        <mesh filename="../meshes/qbhand/ph_medium_collision.stl" scale="0.001 0.001 0.001"/>
      </geometry>
    </collision>
  </link>
  <joint name="left_qbhand_middle_middle_joint" type="revolute">
    <origin rpy="0 0 0" xyz="0.017 0 0"/>
    <parent link="left_qbhand_middle_proximal_link"/>
    <child link="left_qbhand_middle_middle_virtual_link"/>
    <axis xyz="0 0 -1"/>
    <dynamics damping="0.0" friction="0.0"/>
    <limit effort="100" lower="0.0" upper="0.785" velocity="100"/>
    <mimic joint="left_qbhand_synergy_joint" multiplier="0.785"/>
  </joint>
  <link name="left_qbhand_middle_middle_virtual_link">
    <inertial>
      <origin rpy="0 0 0" xyz="0 0 0"/>
      <mass value="1e-4"/>
      <inertia ixx="1e-9" ixy="0.0" ixz="0.0" iyy="1e-9" iyz="0.0" izz="1e-9"/>
    </inertial>
  </link>
  <joint name="left_qbhand_middle_middle_virtual_joint" type="revolute">
    <origin rpy="0 0 0" xyz="0.013 0 0"/>
    <parent link="left_qbhand_middle_middle_virtual_link"/>
    <child link="left_qbhand_middle_middle_link"/>
    <axis xyz="0 0 -1"/>
    <dynamics damping="0.0" friction="0.0"/>
    <limit effort="100" lower="0.0" upper="0.785" velocity="100"/>
    <mimic joint="left_qbhand_middle_middle_joint" multiplier="1.0"/>
  </joint>
  <link name="left_qbhand_middle_middle_link">
    <inertial>
      <mass value="0.0063"/>
      <origin rpy="0 0 0" xyz="4.7601567e-03 -1.3786947e-03 0.0"/>
      <inertia ixx="1.8024201e-07" ixy="5.756798e-09" ixz="0.0" iyy="2.3516266e-07" iyz="0.0" izz="2.691504e-07"/>
    </inertial>
    <visual>
      <origin rpy="0 0 0" xyz="0 0 0"/>
      <geometry>
        <mesh filename="../meshes/qbhand/ph_short.stl" scale="0.001 0.001 0.001"/>
      </geometry>
      <material name="qbhand/middle">
        <color rgba="0.35 0.35 0.35 1.0"/>
      </material>
    </visual>
    <collision>
      <origin rpy="0 0 0" xyz="0 0 0"/>
      <geometry>
        <mesh filename="../meshes/qbhand/ph_short_collision.stl" scale="0.001 0.001 0.001"/>
      </geometry>
    </collision>
  </link>
  <joint name="left_qbhand_middle_distal_joint" type="revolute">
    <origin rpy="0 0 0" xyz="0.009 0 0"/>
    <parent link="left_qbhand_middle_middle_link"/>
    <child link="left_qbhand_middle_distal_virtual_link"/>
    <axis xyz="0 0 -1"/>
    <dynamics damping="0.0" friction="0.0"/>
    <limit effort="100" lower="0.0" upper="0.785" velocity="100"/>
    <mimic joint="left_qbhand_synergy_joint" multiplier="0.785"/>
  </joint>
  <link name="left_qbhand_middle_distal_virtual_link">
    <inertial>
      <origin rpy="0 0 0" xyz="0 0 0"/>
      <mass value="1e-4"/>
      <inertia ixx="1e-9" ixy="0.0" ixz="0.0" iyy="1e-9" iyz="0.0" izz="1e-9"/>
    </inertial>
  </link>
  <joint name="left_qbhand_middle_distal_virtual_joint" type="revolute">
    <origin rpy="0 0 0" xyz="0.013 0 0"/>
    <parent link="left_qbhand_middle_distal_virtual_link"/>
    <child link="left_qbhand_middle_distal_link"/>
    <axis xyz="0 0 -1"/>
    <dynamics damping="0.0" friction="0.0"/>
    <limit effort="100" lower="0.0" upper="0.785" velocity="100"/>
    <mimic joint="left_qbhand_middle_distal_joint" multiplier="1.0"/>
  </joint>
  <link name="left_qbhand_middle_distal_link">
    <inertial>
      <mass value="0.009"/>
      <origin rpy="0 0 0" xyz="8.8025467e-03 -1.7219289e-03 0.0"/>
      <inertia ixx="2.6586142e-07" ixy="1.2416847e-08" ixz="0.0" iyy="5.9935767e-07" iyz="0.0" izz="6.6781963e-07"/>
    </inertial>
    <visual>
      <origin rpy="0 0 0" xyz="0 0 0"/>
      <geometry>
        <mesh filename="../meshes/qbhand/ph_distal.stl" scale="0.001 0.001 0.001"/>
      </geometry>
      <material name="qbhand/distal">
        <color rgba="0.35 0.35 0.35 1.0"/>
      </material>
    </visual>
    <collision>
      <origin rpy="0 0 0" xyz="0 0 0"/>
      <geometry>
        <mesh filename="../meshes/qbhand/ph_distal_collision.stl" scale="0.001 0.001 0.001"/>
      </geometry>
    </collision>
  </link>
  <joint name="left_qbhand_ring_knuckle_joint" type="revolute">
    <origin rpy="0 3.14 -1.57" xyz="0.02 -0.007 -0.014"/>
    <parent link="left_qbhand_palm_link"/>
    <child link="left_qbhand_ring_knuckle_link"/>
    <axis xyz="0 0 -1"/>
    <dynamics damping="0.0" friction="0.0"/>
    <limit effort="100" lower="-0.524" upper="0.524" velocity="100"/>
    <mimic joint="left_qbhand_synergy_joint" multiplier="-0.2"/>
  </joint>
  <link name="left_qbhand_ring_knuckle_link">
    <inertial>
      <mass value="0.0095"/>
      <origin rpy="0 0 0" xyz="4.2753603e-04  0.0 -1.4321738e-03"/>
      <inertia ixx="6.4337303e-07" ixy="0.0" ixz="-3.9373913e-08" iyy="1.1253771e-06" iyz="0.0" izz="7.2336948e-07"/>
    </inertial>
    <visual>
      <origin rpy="0 0 0" xyz="0 0 0"/>
      <geometry>
        <mesh filename="../meshes/qbhand/ph_knuckle.stl" scale="0.001 0.001 0.001"/>
      </geometry>
      <material name="qbhand/knuckle">
        <color rgba="0.35 0.35 0.35 1.0"/>
      </material>
    </visual>
    <collision>
      <origin rpy="0 0 0" xyz="0 0 0"/>
      <geometry>
        <mesh filename="../meshes/qbhand/ph_knuckle_collision.stl" scale="0.001 0.001 0.001"/>
      </geometry>
    </collision>
  </link>
  <joint name="left_qbhand_ring_proximal_joint" type="revolute">
    <origin rpy="1.57 0 0" xyz="0.009 0 0"/>
    <parent link="left_qbhand_ring_knuckle_link"/>
    <child link="left_qbhand_ring_proximal_virtual_link"/>
    <axis xyz="0 0 -1"/>
    <dynamics damping="0.0" friction="0.0"/>
    <limit effort="100" lower="0.0" upper="0.785" velocity="100"/>
    <mimic joint="left_qbhand_synergy_joint" multiplier="0.785"/>
  </joint>
  <link name="left_qbhand_ring_proximal_virtual_link">
    <inertial>
      <origin rpy="0 0 0" xyz="0 0 0"/>
      <mass value="1e-4"/>
      <inertia ixx="1e-9" ixy="0.0" ixz="0.0" iyy="1e-9" iyz="0.0" izz="1e-9"/>
    </inertial>
  </link>
  <joint name="left_qbhand_ring_proximal_virtual_joint" type="revolute">
    <origin rpy="0 0 0" xyz="0.013 0 0"/>
    <parent link="left_qbhand_ring_proximal_virtual_link"/>
    <child link="left_qbhand_ring_proximal_link"/>
    <axis xyz="0 0 -1"/>
    <dynamics damping="0.0" friction="0.0"/>
    <limit effort="100" lower="0.0" upper="0.785" velocity="100"/>
    <mimic joint="left_qbhand_ring_proximal_joint" multiplier="1.0"/>
  </joint>
  <link name="left_qbhand_ring_proximal_link">
    <inertial>
      <mass value="0.0082"/>
      <origin rpy="0 0 0" xyz="8.7707437e-03 -1.7863138e-03 0.0"/>
      <inertia ixx="2.2722068e-07" ixy="1.1586053e-08" ixz="0.0" iyy="5.5947233e-07" iyz="0.0" izz="5.9562195e-07"/>
    </inertial>
    <visual>
      <origin rpy="0 0 0" xyz="0 0 0"/>
      <geometry>
        <mesh filename="../meshes/qbhand/ph_medium.stl" scale="0.001 0.001 0.001"/>
      </geometry>
      <material name="qbhand/proximal">
        <color rgba="0.35 0.35 0.35 1.0"/>
      </material>
    </visual>
    <collision>
      <origin rpy="0 0 0" xyz="0 0 0"/>
      <geometry>
        <mesh filename="../meshes/qbhand/ph_medium_collision.stl" scale="0.001 0.001 0.001"/>
      </geometry>
    </collision>
  </link>
  <joint name="left_qbhand_ring_middle_joint" type="revolute">
    <origin rpy="0 0 0" xyz="0.017 0 0"/>
    <parent link="left_qbhand_ring_proximal_link"/>
    <child link="left_qbhand_ring_middle_virtual_link"/>
    <axis xyz="0 0 -1"/>
    <dynamics damping="0.0" friction="0.0"/>
    <limit effort="100" lower="0.0" upper="0.785" velocity="100"/>
    <mimic joint="left_qbhand_synergy_joint" multiplier="0.785"/>
  </joint>
  <link name="left_qbhand_ring_middle_virtual_link">
    <inertial>
      <origin rpy="0 0 0" xyz="0 0 0"/>
      <mass value="1e-4"/>
      <inertia ixx="1e-9" ixy="0.0" ixz="0.0" iyy="1e-9" iyz="0.0" izz="1e-9"/>
    </inertial>
  </link>
  <joint name="left_qbhand_ring_middle_virtual_joint" type="revolute">
    <origin rpy="0 0 0" xyz="0.013 0 0"/>
    <parent link="left_qbhand_ring_middle_virtual_link"/>
    <child link="left_qbhand_ring_middle_link"/>
    <axis xyz="0 0 -1"/>
    <dynamics damping="0.0" friction="0.0"/>
    <limit effort="100" lower="0.0" upper="0.785" velocity="100"/>
    <mimic joint="left_qbhand_ring_middle_joint" multiplier="1.0"/>
  </joint>
  <link name="left_qbhand_ring_middle_link">
    <inertial>
      <mass value="0.0063"/>
      <origin rpy="0 0 0" xyz="4.7601567e-03 -1.3786947e-03 0.0"/>
      <inertia ixx="1.8024201e-07" ixy="5.756798e-09" ixz="0.0" iyy="2.3516266e-07" iyz="0.0" izz="2.691504e-07"/>
    </inertial>
    <visual>
      <origin rpy="0 0 0" xyz="0 0 0"/>
      <geometry>
        <mesh filename="../meshes/qbhand/ph_short.stl" scale="0.001 0.001 0.001"/>
      </geometry>
      <material name="qbhand/middle">
        <color rgba="0.35 0.35 0.35 1.0"/>
      </material>
    </visual>
    <collision>
      <origin rpy="0 0 0" xyz="0 0 0"/>
      <geometry>
        <mesh filename="../meshes/qbhand/ph_short_collision.stl" scale="0.001 0.001 0.001"/>
      </geometry>
    </collision>
  </link>
  <joint name="left_qbhand_ring_distal_joint" type="revolute">
    <origin rpy="0 0 0" xyz="0.009 0 0"/>
    <parent link="left_qbhand_ring_middle_link"/>
    <child link="left_qbhand_ring_distal_virtual_link"/>
    <axis xyz="0 0 -1"/>
    <dynamics damping="0.0" friction="0.0"/>
    <limit effort="100" lower="0.0" upper="0.785" velocity="100"/>
    <mimic joint="left_qbhand_synergy_joint" multiplier="0.785"/>
  </joint>
  <link name="left_qbhand_ring_distal_virtual_link">
    <inertial>
      <origin rpy="0 0 0" xyz="0 0 0"/>
      <mass value="1e-4"/>
      <inertia ixx="1e-9" ixy="0.0" ixz="0.0" iyy="1e-9" iyz="0.0" izz="1e-9"/>
    </inertial>
  </link>
  <joint name="left_qbhand_ring_distal_virtual_joint" type="revolute">
    <origin rpy="0 0 0" xyz="0.013 0 0"/>
    <parent link="left_qbhand_ring_distal_virtual_link"/>
    <child link="left_qbhand_ring_distal_link"/>
    <axis xyz="0 0 -1"/>
    <dynamics damping="0.0" friction="0.0"/>
    <limit effort="100" lower="0.0" upper="0.785" velocity="100"/>
    <mimic joint="left_qbhand_ring_distal_joint" multiplier="1.0"/>
  </joint>
  <link name="left_qbhand_ring_distal_link">
    <inertial>
      <mass value="0.009"/>
      <origin rpy="0 0 0" xyz="8.8025467e-03 -1.7219289e-03 0.0"/>
      <inertia ixx="2.6586142e-07" ixy="1.2416847e-08" ixz="0.0" iyy="5.9935767e-07" iyz="0.0" izz="6.6781963e-07"/>
    </inertial>
    <visual>
      <origin rpy="0 0 0" xyz="0 0 0"/>
      <geometry>
        <mesh filename="../meshes/qbhand/ph_distal.stl" scale="0.001 0.001 0.001"/>
      </geometry>
      <material name="qbhand/distal">
        <color rgba="0.35 0.35 0.35 1.0"/>
      </material>
    </visual>
    <collision>
      <origin rpy="0 0 0" xyz="0 0 0"/>
      <geometry>
        <mesh filename="../meshes/qbhand/ph_distal_collision.stl" scale="0.001 0.001 0.001"/>
      </geometry>
    </collision>
  </link>
  <joint name="left_qbhand_little_knuckle_joint" type="revolute">
    <origin rpy="0 3.14 -1.57" xyz="0.04 -0.012 -0.014"/>
    <parent link="left_qbhand_palm_link"/>
    <child link="left_qbhand_little_knuckle_link"/>
    <axis xyz="0 0 -1"/>
    <dynamics damping="0.0" friction="0.0"/>
    <limit effort="100" lower="-0.524" upper="0.524" velocity="100"/>
    <mimic joint="left_qbhand_synergy_joint" multiplier="-0.4"/>
  </joint>
  <link name="left_qbhand_little_knuckle_link">
    <inertial>
      <mass value="0.0095"/>
      <origin rpy="0 0 0" xyz="4.2753603e-04  0.0 -1.4321738e-03"/>
      <inertia ixx="6.4337303e-07" ixy="0.0" ixz="-3.9373913e-08" iyy="1.1253771e-06" iyz="0.0" izz="7.2336948e-07"/>
    </inertial>
    <visual>
      <origin rpy="0 0 0" xyz="0 0 0"/>
      <geometry>
        <mesh filename="../meshes/qbhand/ph_knuckle.stl" scale="0.001 0.001 0.001"/>
      </geometry>
      <material name="qbhand/knuckle">
        <color rgba="0.35 0.35 0.35 1.0"/>
      </material>
    </visual>
    <collision>
      <origin rpy="0 0 0" xyz="0 0 0"/>
      <geometry>
        <mesh filename="../meshes/qbhand/ph_knuckle_collision.stl" scale="0.001 0.001 0.001"/>
      </geometry>
    </collision>
  </link>
  <joint name="left_qbhand_little_proximal_joint" type="revolute">
    <origin rpy="1.57 0 0" xyz="0.009 0 0"/>
    <parent link="left_qbhand_little_knuckle_link"/>
    <child link="left_qbhand_little_proximal_virtual_link"/>
    <axis xyz="0 0 -1"/>
    <dynamics damping="0.0" friction="0.0"/>
    <limit effort="100" lower="0.0" upper="0.785" velocity="100"/>
    <mimic joint="left_qbhand_synergy_joint" multiplier="0.785"/>
  </joint>
  <link name="left_qbhand_little_proximal_virtual_link">
    <inertial>
      <origin rpy="0 0 0" xyz="0 0 0"/>
      <mass value="1e-4"/>
      <inertia ixx="1e-9" ixy="0.0" ixz="0.0" iyy="1e-9" iyz="0.0" izz="1e-9"/>
    </inertial>
  </link>
  <joint name="left_qbhand_little_proximal_virtual_joint" type="revolute">
    <origin rpy="0 0 0" xyz="0.013 0 0"/>
    <parent link="left_qbhand_little_proximal_virtual_link"/>
    <child link="left_qbhand_little_proximal_link"/>
    <axis xyz="0 0 -1"/>
    <dynamics damping="0.0" friction="0.0"/>
    <limit effort="100" lower="0.0" upper="0.785" velocity="100"/>
    <mimic joint="left_qbhand_little_proximal_joint" multiplier="1.0"/>
  </joint>
  <link name="left_qbhand_little_proximal_link">
    <inertial>
      <mass value="0.0063"/>
      <origin rpy="0 0 0" xyz="4.7601567e-03 -1.3786947e-03 0.0"/>
      <inertia ixx="1.8024201e-07" ixy="5.756798e-09" ixz="0.0" iyy="2.3516266e-07" iyz="0.0" izz="2.691504e-07"/>
    </inertial>
    <visual>
      <origin rpy="0 0 0" xyz="0 0 0"/>
      <geometry>
        <mesh filename="../meshes/qbhand/ph_short.stl" scale="0.001 0.001 0.001"/>
      </geometry>
      <material name="qbhand/proximal">
        <color rgba="0.35 0.35 0.35 1.0"/>
      </material>
    </visual>
    <collision>
      <origin rpy="0 0 0" xyz="0 0 0"/>
      <geometry>
        <mesh filename="../meshes/qbhand/ph_short_collision.stl" scale="0.001 0.001 0.001"/>
      </geometry>
    </collision>
  </link>
  <joint name="left_qbhand_little_middle_joint" type="revolute">
    <origin rpy="0 0 0" xyz="0.009 0 0"/>
    <parent link="left_qbhand_little_proximal_link"/>
    <child link="left_qbhand_little_middle_virtual_link"/>
    <axis xyz="0 0 -1"/>
    <dynamics damping="0.0" friction="0.0"/>
    <limit effort="100" lower="0.0" upper="0.785" velocity="100"/>
    <mimic joint="left_qbhand_synergy_joint" multiplier="0.785"/>
  </joint>
  <link name="left_qbhand_little_middle_virtual_link">
    <inertial>
      <origin rpy="0 0 0" xyz="0 0 0"/>
      <mass value="1e-4"/>
      <inertia ixx="1e-9" ixy="0.0" ixz="0.0" iyy="1e-9" iyz="0.0" izz="1e-9"/>
    </inertial>
  </link>
  <joint name="left_qbhand_little_middle_virtual_joint" type="revolute">
    <origin rpy="0 0 0" xyz="0.013 0 0"/>
    <parent link="left_qbhand_little_middle_virtual_link"/>
    <child link="left_qbhand_little_middle_link"/>
    <axis xyz="0 0 -1"/>
    <dynamics damping="0.0" friction="0.0"/>
    <limit effort="100" lower="0.0" upper="0.785" velocity="100"/>
    <mimic joint="left_qbhand_little_middle_joint" multiplier="1.0"/>
  </joint>
  <link name="left_qbhand_little_middle_link">
    <inertial>
      <mass value="0.0063"/>
      <origin rpy="0 0 0" xyz="4.7601567e-03 -1.3786947e-03 0.0"/>
      <inertia ixx="1.8024201e-07" ixy="5.756798e-09" ixz="0.0" iyy="2.3516266e-07" iyz="0.0" izz="2.691504e-07"/>
    </inertial>
    <visual>
      <origin rpy="0 0 0" xyz="0 0 0"/>
      <geometry>
        <mesh filename="../meshes/qbhand/ph_short.stl" scale="0.001 0.001 0.001"/>
      </geometry>
      <material name="qbhand/middle">
        <color rgba="0.35 0.35 0.35 1.0"/>
      </material>
    </visual>
    <collision>
      <origin rpy="0 0 0" xyz="0 0 0"/>
      <geometry>
        <mesh filename="../meshes/qbhand/ph_short_collision.stl" scale="0.001 0.001 0.001"/>
      </geometry>
    </collision>
  </link>
  <joint name="left_qbhand_little_distal_joint" type="revolute">
    <origin rpy="0 0 0" xyz="0.009 0 0"/>
    <parent link="left_qbhand_little_middle_link"/>
    <child link="left_qbhand_little_distal_virtual_link"/>
    <axis xyz="0 0 -1"/>
    <dynamics damping="0.0" friction="0.0"/>
    <limit effort="100" lower="0.0" upper="0.785" velocity="100"/>
    <mimic joint="left_qbhand_synergy_joint" multiplier="0.785"/>
  </joint>
  <link name="left_qbhand_little_distal_virtual_link">
    <inertial>
      <origin rpy="0 0 0" xyz="0 0 0"/>
      <mass value="1e-4"/>
      <inertia ixx="1e-9" ixy="0.0" ixz="0.0" iyy="1e-9" iyz="0.0" izz="1e-9"/>
    </inertial>
  </link>
  <joint name="left_qbhand_little_distal_virtual_joint" type="revolute">
    <origin rpy="0 0 0" xyz="0.013 0 0"/>
    <parent link="left_qbhand_little_distal_virtual_link"/>
    <child link="left_qbhand_little_distal_link"/>
    <axis xyz="0 0 -1"/>
    <dynamics damping="0.0" friction="0.0"/>
    <limit effort="100" lower="0.0" upper="0.785" velocity="100"/>
    <mimic joint="left_qbhand_little_distal_joint" multiplier="1.0"/>
  </joint>
  <link name="left_qbhand_little_distal_link">
    <inertial>
      <mass value="0.009"/>
      <origin rpy="0 0 0" xyz="8.8025467e-03 -1.7219289e-03 0.0"/>
      <inertia ixx="2.6586142e-07" ixy="1.2416847e-08" ixz="0.0" iyy="5.9935767e-07" iyz="0.0" izz="6.6781963e-07"/>
    </inertial>
    <visual>
      <origin rpy="0 0 0" xyz="0 0 0"/>
      <geometry>
        <mesh filename="../meshes/qbhand/ph_distal.stl" scale="0.001 0.001 0.001"/>
      </geometry>
      <material name="qbhand/distal">
        <color rgba="0.35 0.35 0.35 1.0"/>
      </material>
    </visual>
    <collision>
      <origin rpy="0 0 0" xyz="0 0 0"/>
      <geometry>
        <mesh filename="../meshes/qbhand/ph_distal_collision.stl" scale="0.001 0.001 0.001"/>
      </geometry>
    </collision>
  </link>
  <joint name="left_qbhand_end_effector_fixed_joint" type="fixed">
    <origin rpy="-1.57 0 0" xyz="-0.03 0.060 0.142"/>
    <parent link="left_qbhand_base_link"/>
    <child link="left_qbhand_end_effector_link"/>
  </joint>
  <link name="left_qbhand_end_effector_link"/>
  <joint name="panda_right_joint_torso_end" type="fixed">
    <parent link="torso_end"/>
    <child link="panda_right_link0"/>
    <origin rpy="1.3685238493647454 0.913218224774749 0.6168337646727412" xyz="-0.08537 -0.07009 0.2535"/>
  </joint>
  <link name="panda_right_link0">
    <visual>
      <origin rpy="0 0 0" xyz="0 0 0"/>
      <geometry>
        <mesh filename="../meshes/franka/visual/link0.dae"/>
      </geometry>
    </visual>
    <collision>
      <origin rpy="0 0 0" xyz="0 0 0"/>
      <geometry>
        <mesh filename="../meshes/franka/collision/link0.stl"/>
      </geometry>
    </collision>
    <inertial>
      <!-- Estimated guesses from CAD -->
      <origin rpy="0 0 0" xyz="-0.041018 -0.00014 0.049974"/>
      <mass value="0.629769"/>
      <inertia ixx="0.00315" ixy="8.2904E-07" ixz="0.00015" iyy="0.00388" iyz="8.2299E-06" izz="0.004285"/>
    </inertial>
  </link>
  <link name="panda_right_link1">
    <visual>
      <origin rpy="0 0 0" xyz="0 0 0"/>
      <geometry>
        <mesh filename="../meshes/franka/visual/link1.dae"/>
      </geometry>
    </visual>
    <collision>
      <origin rpy="0 0 0" xyz="0 0 0"/>
      <geometry>
        <mesh filename="../meshes/franka/collision/link1.stl"/>
      </geometry>
    </collision>
    <inertial>
      <origin rpy="0 0 0" xyz="0.003875 0.002081 -0.04762"/>
      <mass value="4.970684"/>
      <inertia ixx="0.70337" ixy="-0.00013900" ixz="0.0067720" iyy="0.70661" iyz="0.019169" izz="0.0091170"/>
    </inertial>
  </link>
  <joint name="panda_right_joint1" type="revolute">
    <safety_controller k_position="100.0" k_velocity="40.0" soft_lower_limit="-2.8973" soft_upper_limit="2.8973"/>
    <origin rpy="0 0 0" xyz="0 0 0.333"/>
    <parent link="panda_right_link0"/>
    <child link="panda_right_link1"/>
    <axis xyz="0 0 1"/>
    <limit acceleration="15" effort="87" lower="-2.8973" upper="2.8973" velocity="2.1750"/>
    <dynamics D="1" K="7000" damping="0.003" friction="0.0" mu_coulomb="0" mu_viscous="16"/>
  </joint>
  <link name="panda_right_link2">
    <visual>
      <origin rpy="0 0 0" xyz="0 0 0"/>
      <geometry>
        <mesh filename="../meshes/franka/visual/link2.dae"/>
      </geometry>
    </visual>
    <collision>
      <origin rpy="0 0 0" xyz="0 0 0"/>
      <geometry>
        <mesh filename="../meshes/franka/collision/link2.stl"/>
      </geometry>
    </collision>
    <inertial>
      <origin rpy="0 0 0" xyz=" -0.003141 -0.02872  0.003495"/>
      <mass value="0.646926"/>
      <inertia ixx="0.0079620" ixy="-3.9250e-3" ixz="1.0254e-02" iyy="2.8110e-02" iyz="7.0400e-04" izz="2.5995e-02"/>
    </inertial>
  </link>
  <joint name="panda_right_joint2" type="revolute">
    <safety_controller k_position="100.0" k_velocity="40.0" soft_lower_limit="-1.7628" soft_upper_limit="1.7628"/>
    <origin rpy="-1.5707963267948966 0 0" xyz="0 0 0"/>
    <parent link="panda_right_link1"/>
    <child link="panda_right_link2"/>
    <axis xyz="0 0 1"/>
    <limit acceleration="7.5" effort="87" lower="-1.7628" upper="1.7628" velocity="2.1750"/>
    <dynamics D="1" K="7000" damping="0.003" friction="0.0" mu_coulomb="0" mu_viscous="16"/>
  </joint>
  <link name="panda_right_link3">
    <visual>
      <origin rpy="0 0 0" xyz="0 0 0"/>
      <geometry>
        <mesh filename="../meshes/franka/visual/link3.dae"/>
      </geometry>
    </visual>
    <collision>
      <origin rpy="0 0 0" xyz="0 0 0"/>
      <geometry>
        <mesh filename="../meshes/franka/collision/link3.stl"/>
      </geometry>
    </collision>
    <inertial>
      <origin rpy="0 0 0" xyz="2.7518e-02 3.9252e-02 -6.6502e-02"/>
      <mass value="3.228604"/>
      <inertia ixx="3.7242e-02" ixy="-4.7610e-03" ixz="-1.1396e-02" iyy="3.6155e-02" iyz="-1.2805e-02" izz="1.0830e-02"/>
    </inertial>
  </link>
  <joint name="panda_right_joint3" type="revolute">
    <safety_controller k_position="100.0" k_velocity="40.0" soft_lower_limit="-2.8973" soft_upper_limit="2.8973"/>
    <origin rpy="1.5707963267948966 0 0" xyz="0 -0.316 0"/>
    <parent link="panda_right_link2"/>
    <child link="panda_right_link3"/>
    <axis xyz="0 0 1"/>
    <limit acceleration="12.5" effort="87" lower="-2.8973" upper="2.8973" velocity="2.1750"/>
    <dynamics D="1" K="7000" damping="0.003" friction="0.0" mu_coulomb="0" mu_viscous="16"/>
  </joint>
  <link name="panda_right_link4">
    <visual>
      <origin rpy="0 0 0" xyz="0 0 0"/>
      <geometry>
        <mesh filename="../meshes/franka/visual/link4.dae"/>
      </geometry>
    </visual>
    <collision>
      <origin rpy="0 0 0" xyz="0 0 0"/>
      <geometry>
        <mesh filename="../meshes/franka/collision/link4.stl"/>
      </geometry>
    </collision>
    <inertial>
      <origin rpy="0 0 0" xyz="-5.317e-02 1.04419e-01 2.7454e-02"/>
      <mass value="3.587895"/>
      <inertia ixx="2.5853e-02" ixy="7.7960e-03" ixz="-1.3320e-03" iyy="1.9552e-02" iyz="8.6410e-03" izz="2.8323e-02"/>
    </inertial>
  </link>
  <joint name="panda_right_joint4" type="revolute">
    <safety_controller k_position="100.0" k_velocity="40.0" soft_lower_limit="-3.0718" soft_upper_limit="-0.0698"/>
    <origin rpy="1.5707963267948966 0 0" xyz="0.0825 0 0"/>
    <parent link="panda_right_link3"/>
    <child link="panda_right_link4"/>
    <axis xyz="0 0 1"/>
    <limit acceleration="12.5" effort="87" lower="-3.0718" upper="-0.0698" velocity="2.1750"/>
    <dynamics D="1" K="7000" damping="0.003" friction="0.0" mu_coulomb="0" mu_viscous="16"/>
  </joint>
  <link name="panda_right_link5">
    <visual>
      <origin rpy="0 0 0" xyz="0 0 0"/>
      <geometry>
        <mesh filename="../meshes/franka/visual/link5.dae"/>
      </geometry>
    </visual>
    <collision>
      <origin rpy="0 0 0" xyz="0 0 0"/>
      <geometry>
        <mesh filename="../meshes/franka/collision/link5.stl"/>
      </geometry>
    </collision>
    <inertial>
      <origin rpy="0 0 0" xyz="-1.1953e-02 4.1065e-02 -3.8437e-02"/>
      <mass value="1.225946"/>
      <inertia ixx="3.5549e-02" ixy="-2.1170e-03" ixz="-4.0370e-03" iyy="2.9474e-02" iyz="2.2900e-04" izz="8.6270e-03"/>
    </inertial>
  </link>
  <joint name="panda_right_joint5" type="revolute">
    <safety_controller k_position="100.0" k_velocity="40.0" soft_lower_limit="-2.8973" soft_upper_limit="2.8973"/>
    <origin rpy="-1.5707963267948966 0 0" xyz="-0.0825 0.384 0"/>
    <parent link="panda_right_link4"/>
    <child link="panda_right_link5"/>
    <axis xyz="0 0 1"/>
    <limit acceleration="15" effort="12" lower="-2.8973" upper="2.8973" velocity="2.6100"/>
    <dynamics D="1" K="7000" damping="0.003" friction="0.0" mu_coulomb="0" mu_viscous="16"/>
  </joint>
  <link name="panda_right_link6">
    <visual>
      <origin rpy="0 0 0" xyz="0 0 0"/>
      <geometry>
        <mesh filename="../meshes/franka/visual/link6.dae"/>
      </geometry>
    </visual>
    <collision>
      <origin rpy="0 0 0" xyz="0 0 0"/>
      <geometry>
        <mesh filename="../meshes/franka/collision/link6.stl"/>
      </geometry>
    </collision>
    <inertial>
      <origin rpy="0 0 0" xyz="6.0149e-02 -1.4117e-02 -1.0517e-02"/>
      <mass value="1.666555"/>
      <inertia ixx="1.9640e-03" ixy="1.0900e-04" ixz="-1.1580e-03" iyy="4.3540e-03" iyz="3.4100e-04" izz="5.4330e-03"/>
    </inertial>
  </link>
  <joint name="panda_right_joint6" type="revolute">
    <safety_controller k_position="100.0" k_velocity="40.0" soft_lower_limit="-0.0175" soft_upper_limit="3.7525"/>
    <origin rpy="1.5707963267948966 0 0" xyz="0 0 0"/>
    <parent link="panda_right_link5"/>
    <child link="panda_right_link6"/>
    <axis xyz="0 0 1"/>
    <limit acceleration="20" effort="12" lower="-0.0175" upper="3.7525" velocity="2.6100"/>
    <dynamics D="1" K="7000" damping="0.003" friction="0.0" mu_coulomb="0" mu_viscous="16"/>
  </joint>
  <link name="panda_right_link7">
    <visual>
      <origin rpy="0 0 0" xyz="0 0 0"/>
      <geometry>
        <mesh filename="../meshes/franka/visual/link7.dae"/>
      </geometry>
    </visual>
    <collision>
      <origin rpy="0 0 0" xyz="0 0 0"/>
      <geometry>
        <mesh filename="../meshes/franka/collision/link7.stl"/>
      </geometry>
    </collision>
    <inertial>
      <origin rpy="0 0 0" xyz="1.0517e-02 -4.252e-03 6.1597e-02"/>
      <mass value="7.35522e-01"/>
      <inertia ixx="1.2516e-02" ixy="-4.2800e-04" ixz="-1.1960e-03" iyy="1.0027e-02" iyz="-7.4100e-04" izz="4.8150e-03"/>
    </inertial>
  </link>
  <joint name="panda_right_joint7" type="revolute">
    <safety_controller k_position="100.0" k_velocity="40.0" soft_lower_limit="-2.8973" soft_upper_limit="2.8973"/>
    <origin rpy="1.5707963267948966 0 0" xyz="0.088 0 0"/>
    <parent link="panda_right_link6"/>
    <child link="panda_right_link7"/>
    <axis xyz="0 0 1"/>
    <limit acceleration="20" effort="12" lower="-2.8973" upper="2.8973" velocity="2.6100"/>
    <dynamics D="1" K="7000" damping="0.003" friction="0.0" mu_coulomb="0" mu_viscous="16"/>
  </joint>
  <joint name="panda_right_end_effector_joint" type="fixed">
    <parent link="panda_right_link7"/>
    <child link="right_hand_root_link"/>
    <origin rpy="0 0 -0.7853981633974483" xyz="0 0 0.107"/>
  </joint>
  <link name="right_hand_root_link"/>
  <joint name="right_qbhand_flange_joint" type="fixed">
    <origin rpy="0 0 -2.3562" xyz="0 0 0"/>
    <parent link="right_hand_root_link"/>
    <child link="flange90_r"/>
  </joint>
  <link name="flange90_r">
    <visual>
      <origin rpy="0 0 0" xyz="0 0 0"/>
      <geometry>
        <mesh filename="../meshes/clover/visual/flange90_zup.dae"/>
      </geometry>
    </visual>
    <collision>
      <origin rpy="0 0 0" xyz="0 0 0"/>
      <geometry>
        <mesh filename="../meshes/clover/visual/flange90_zup.STL"/>
      </geometry>
    </collision>
  </link>
  <joint name="right_qbhand_base_fixed_joint" type="fixed">
    <origin rpy="1.5708 0 1.5708" xyz="0.046 0 0.038"/>
    <parent link="flange90_r"/>
    <child link="right_qbhand_base_link"/>
  </joint>
  <link name="right_qbhand_base_link">
    <inertial>
      <mass value="0.45"/>
      <origin rpy="0 0 0" xyz="0.0030 -0.0449 0.0135"/>
      <inertia ixx="0.00045" ixy="0.0" ixz="0.0" iyy="0.0006" iyz="0.0" izz="0.00025"/>
    </inertial>
    <visual>
      <origin rpy="0 0 0" xyz="0 0 0"/>
      <geometry>
        <mesh filename="../meshes/qbhand/flange_iso_04.stl" scale="0.001 0.001 0.001"/>
      </geometry>
      <material name="qbhand/base"/>
    </visual>
    <collision>
      <origin rpy="0 0 0" xyz="0 0 0"/>
      <geometry>
        <mesh filename="../meshes/qbhand/flange_iso_04.stl" scale="0.001 0.001 0.001"/>
      </geometry>
    </collision>
  </link>
  <joint name="right_qbhand_palm_fixed_joint" type="fixed">
    <origin rpy="1.57 0 0" xyz="-0.0045 0.0145 0.144"/>
    <parent link="right_qbhand_base_link"/>
    <child link="right_qbhand_palm_link"/>
  </joint>
  <link name="right_qbhand_palm_link">
    <inertial>
      <mass value="0.45"/>
      <origin rpy="0 0 0" xyz="0.0030 -0.0449 0.0135"/>
      <inertia ixx="0.00045" ixy="0.0" ixz="0.0" iyy="0.0006" iyz="0.0" izz="0.00025"/>
    </inertial>
    <visual>
      <origin rpy="0 0 0" xyz="0 0 0"/>
      <geometry>
        <mesh filename="../meshes/qbhand/palm_pinch_r.stl" scale="0.001 0.001 0.001"/>
      </geometry>
      <material name="qbhand/palm"/>
    </visual>
    <collision>
      <origin rpy="0 0 0" xyz="0 0 0"/>
      <geometry>
        <mesh filename="../meshes/qbhand/palm_pinch_r.stl" scale="0.001 0.001 0.001"/>
      </geometry>
    </collision>
  </link>
  <joint name="right_qbhand_synergy_joint" type="revolute">
    <origin rpy="0 0 0" xyz="0 0 0"/>
    <parent link="right_qbhand_palm_link"/>
    <child link="right_qbhand_synergy_tendon_virtual_link"/>
    <axis xyz="0 0 1"/>
    <dynamics damping="0.0" friction="0.0"/>
    <limit effort="100" lower="0.0" upper="1.0" velocity="100"/>
  </joint>
  <transmission name="right_qbhand_synergy_transmission">
    <type>transmission_interface/qbMoveTransmission</type>
    <joint name="right_qbhand_synergy_joint">
      <hardwareInterface>hardware_interface/EffortJointInterface</hardwareInterface>
    </joint>
    <actuator name="right_qbhand_synergy_joint">
      <hardwareInterface>hardware_interface/EffortJointInterface</hardwareInterface>
    </actuator>
  </transmission>
  <link name="right_qbhand_synergy_tendon_virtual_link">
    <inertial>
      <origin rpy="0 0 0" xyz="0 0 0"/>
      <mass value="1e-4"/>
      <inertia ixx="1e-9" ixy="0.0" ixz="0.0" iyy="1e-9" iyz="0.0" izz="1e-9"/>
    </inertial>
  </link>
  <joint name="right_qbhand_thumb_knuckle_joint" type="revolute">
    <origin rpy="-1.57 3.14 0.0" xyz="-0.044 -0.0465 -0.002"/>
    <parent link="right_qbhand_palm_link"/>
    <child link="right_qbhand_thumb_knuckle_link"/>
    <axis xyz="0 0 -1"/>
    <dynamics damping="0.0" friction="0.0"/>
    <limit effort="100" lower="0.0" upper="1.571" velocity="100"/>
    <mimic joint="right_qbhand_synergy_joint" multiplier="2.542"/>
  </joint>
  <link name="right_qbhand_thumb_knuckle_link">
    <inertial>
      <mass value="0.01"/>
      <origin rpy="0 0 0" xyz="1.3071561e-02 -2.7357764e-03 6.4347823e-04"/>
      <inertia ixx="3.5865978e-07" ixy="2.0944224e-07" ixz="-6.8657569e-08" iyy="1.3885564e-06" iyz="3.2170608e-08" izz="1.3571203e-06"/>
    </inertial>
    <visual>
      <origin rpy="0 0 0" xyz="0 0 0"/>
      <geometry>
        <mesh filename="../meshes/qbhand/ph_thumb_r.stl" scale="0.001 0.001 0.001"/>
      </geometry>
      <material name="qbhand/knuckle"/>
    </visual>
    <collision>
      <origin rpy="0 0 0" xyz="0 0 0"/>
      <geometry>
        <mesh filename="../meshes/qbhand/ph_thumb_r_collision.stl" scale="0.001 0.001 0.001"/>
      </geometry>
    </collision>
  </link>
  <joint name="right_qbhand_thumb_proximal_joint" type="revolute">
    <origin rpy="-1.1415 0.0 0.0" xyz="0.0255 -0.0038 -0.00012"/>
    <parent link="right_qbhand_thumb_knuckle_link"/>
    <child link="right_qbhand_thumb_proximal_virtual_link"/>
    <axis xyz="0 0 -1"/>
    <dynamics damping="0.0" friction="0.0"/>
    <limit effort="100" lower="0.0" upper="0.785" velocity="100"/>
    <mimic joint="right_qbhand_synergy_joint" multiplier="0.785"/>
  </joint>
  <link name="right_qbhand_thumb_proximal_virtual_link">
    <inertial>
      <origin rpy="0 0 0" xyz="0 0 0"/>
      <mass value="1e-4"/>
      <inertia ixx="1e-9" ixy="0.0" ixz="0.0" iyy="1e-9" iyz="0.0" izz="1e-9"/>
    </inertial>
  </link>
  <joint name="right_qbhand_thumb_proximal_virtual_joint" type="revolute">
    <origin rpy="0 0 0" xyz="0.013 0 0"/>
    <parent link="right_qbhand_thumb_proximal_virtual_link"/>
    <child link="right_qbhand_thumb_proximal_link"/>
    <axis xyz="0 0 -1"/>
    <dynamics damping="0.0" friction="0.0"/>
    <limit effort="100" lower="0.0" upper="0.785" velocity="100"/>
    <mimic joint="right_qbhand_thumb_proximal_joint" multiplier="1.0"/>
  </joint>
  <link name="right_qbhand_thumb_proximal_link">
    <inertial>
      <mass value="0.0063"/>
      <origin rpy="0 0 0" xyz="4.7601567e-03 -1.3786947e-03 0.0"/>
      <inertia ixx="1.8024201e-07" ixy="5.756798e-09" ixz="0.0" iyy="2.3516266e-07" iyz="0.0" izz="2.691504e-07"/>
    </inertial>
    <visual>
      <origin rpy="0 0 0" xyz="0 0 0"/>
      <geometry>
        <mesh filename="../meshes/qbhand/ph_short.stl" scale="0.001 0.001 0.001"/>
      </geometry>
      <material name="qbhand/proximal"/>
    </visual>
    <collision>
      <origin rpy="0 0 0" xyz="0 0 0"/>
      <geometry>
        <mesh filename="../meshes/qbhand/ph_short_collision.stl" scale="0.001 0.001 0.001"/>
      </geometry>
    </collision>
  </link>
  <joint name="right_qbhand_thumb_distal_joint" type="revolute">
    <origin rpy="0 0 0" xyz="0.009 0 0"/>
    <parent link="right_qbhand_thumb_proximal_link"/>
    <child link="right_qbhand_thumb_distal_virtual_link"/>
    <axis xyz="0 0 -1"/>
    <dynamics damping="0.0" friction="0.0"/>
    <limit effort="100" lower="0.0" upper="0.785" velocity="100"/>
    <mimic joint="right_qbhand_synergy_joint" multiplier="0.785"/>
  </joint>
  <link name="right_qbhand_thumb_distal_virtual_link">
    <inertial>
      <origin rpy="0 0 0" xyz="0 0 0"/>
      <mass value="1e-4"/>
      <inertia ixx="1e-9" ixy="0.0" ixz="0.0" iyy="1e-9" iyz="0.0" izz="1e-9"/>
    </inertial>
  </link>
  <joint name="right_qbhand_thumb_distal_virtual_joint" type="revolute">
    <origin rpy="0 0 0" xyz="0.013 0 0"/>
    <parent link="right_qbhand_thumb_distal_virtual_link"/>
    <child link="right_qbhand_thumb_distal_link"/>
    <axis xyz="0 0 -1"/>
    <dynamics damping="0.0" friction="0.0"/>
    <limit effort="100" lower="0.0" upper="0.785" velocity="100"/>
    <mimic joint="right_qbhand_thumb_distal_joint" multiplier="1.0"/>
  </joint>
  <link name="right_qbhand_thumb_distal_link">
    <inertial>
      <mass value="0.009"/>
      <origin rpy="0 0 0" xyz="8.8025467e-03 -1.7219289e-03 0.0"/>
      <inertia ixx="2.6586142e-07" ixy="1.2416847e-08" ixz="0.0" iyy="5.9935767e-07" iyz="0.0" izz="6.6781963e-07"/>
    </inertial>
    <visual>
      <origin rpy="0 0 0" xyz="0 0 0"/>
      <geometry>
        <mesh filename="../meshes/qbhand/ph_distal.stl" scale="0.001 0.001 0.001"/>
      </geometry>
      <material name="qbhand/distal"/>
    </visual>
    <collision>
      <origin rpy="0 0 0" xyz="0 0 0"/>
      <geometry>
        <mesh filename="../meshes/qbhand/ph_distal_collision.stl" scale="0.001 0.001 0.001"/>
      </geometry>
    </collision>
  </link>
  <joint name="right_qbhand_index_knuckle_joint" type="revolute">
    <origin rpy="0 0 1.57" xyz="-0.02 -0.007 0.014"/>
    <parent link="right_qbhand_palm_link"/>
    <child link="right_qbhand_index_knuckle_link"/>
    <axis xyz="0 0 -1"/>
    <dynamics damping="0.0" friction="0.0"/>
    <limit effort="100" lower="-0.524" upper="0.524" velocity="100"/>
    <mimic joint="right_qbhand_synergy_joint" multiplier="-0.2"/>
  </joint>
  <link name="right_qbhand_index_knuckle_link">
    <inertial>
      <mass value="0.0095"/>
      <origin rpy="0 0 0" xyz="4.2753603e-04  0.0 -1.4321738e-03"/>
      <inertia ixx="6.4337303e-07" ixy="0.0" ixz="-3.9373913e-08" iyy="1.1253771e-06" iyz="0.0" izz="7.2336948e-07"/>
    </inertial>
    <visual>
      <origin rpy="0 0 0" xyz="0 0 0"/>
      <geometry>
        <mesh filename="../meshes/qbhand/ph_knuckle.stl" scale="0.001 0.001 0.001"/>
      </geometry>
      <material name="qbhand/knuckle"/>
    </visual>
    <collision>
      <origin rpy="0 0 0" xyz="0 0 0"/>
      <geometry>
        <mesh filename="../meshes/qbhand/ph_knuckle_collision.stl" scale="0.001 0.001 0.001"/>
      </geometry>
    </collision>
  </link>
  <joint name="right_qbhand_index_proximal_joint" type="revolute">
    <origin rpy="1.57 0 0" xyz="0.009 0 0"/>
    <parent link="right_qbhand_index_knuckle_link"/>
    <child link="right_qbhand_index_proximal_virtual_link"/>
    <axis xyz="0 0 -1"/>
    <dynamics damping="0.0" friction="0.0"/>
    <limit effort="100" lower="0.0" upper="0.785" velocity="100"/>
    <mimic joint="right_qbhand_synergy_joint" multiplier="0.785"/>
  </joint>
  <link name="right_qbhand_index_proximal_virtual_link">
    <inertial>
      <origin rpy="0 0 0" xyz="0 0 0"/>
      <mass value="1e-4"/>
      <inertia ixx="1e-9" ixy="0.0" ixz="0.0" iyy="1e-9" iyz="0.0" izz="1e-9"/>
    </inertial>
  </link>
  <joint name="right_qbhand_index_proximal_virtual_joint" type="revolute">
    <origin rpy="0 0 0" xyz="0.013 0 0"/>
    <parent link="right_qbhand_index_proximal_virtual_link"/>
    <child link="right_qbhand_index_proximal_link"/>
    <axis xyz="0 0 -1"/>
    <dynamics damping="0.0" friction="0.0"/>
    <limit effort="100" lower="0.0" upper="0.785" velocity="100"/>
    <mimic joint="right_qbhand_index_proximal_joint" multiplier="1.0"/>
  </joint>
  <link name="right_qbhand_index_proximal_link">
    <inertial>
      <mass value="0.0082"/>
      <origin rpy="0 0 0" xyz="8.7707437e-03 -1.7863138e-03 0.0"/>
      <inertia ixx="2.2722068e-07" ixy="1.1586053e-08" ixz="0.0" iyy="5.5947233e-07" iyz="0.0" izz="5.9562195e-07"/>
    </inertial>
    <visual>
      <origin rpy="0 0 0" xyz="0 0 0"/>
      <geometry>
        <mesh filename="../meshes/qbhand/ph_medium.stl" scale="0.001 0.001 0.001"/>
      </geometry>
      <material name="qbhand/proximal"/>
    </visual>
    <collision>
      <origin rpy="0 0 0" xyz="0 0 0"/>
      <geometry>
        <mesh filename="../meshes/qbhand/ph_medium_collision.stl" scale="0.001 0.001 0.001"/>
      </geometry>
    </collision>
  </link>
  <joint name="right_qbhand_index_middle_joint" type="revolute">
    <origin rpy="0 0 0" xyz="0.017 0 0"/>
    <parent link="right_qbhand_index_proximal_link"/>
    <child link="right_qbhand_index_middle_virtual_link"/>
    <axis xyz="0 0 -1"/>
    <dynamics damping="0.0" friction="0.0"/>
    <limit effort="100" lower="0.0" upper="0.785" velocity="100"/>
    <mimic joint="right_qbhand_synergy_joint" multiplier="0.785"/>
  </joint>
  <link name="right_qbhand_index_middle_virtual_link">
    <inertial>
      <origin rpy="0 0 0" xyz="0 0 0"/>
      <mass value="1e-4"/>
      <inertia ixx="1e-9" ixy="0.0" ixz="0.0" iyy="1e-9" iyz="0.0" izz="1e-9"/>
    </inertial>
  </link>
  <joint name="right_qbhand_index_middle_virtual_joint" type="revolute">
    <origin rpy="0 0 0" xyz="0.013 0 0"/>
    <parent link="right_qbhand_index_middle_virtual_link"/>
    <child link="right_qbhand_index_middle_link"/>
    <axis xyz="0 0 -1"/>
    <dynamics damping="0.0" friction="0.0"/>
    <limit effort="100" lower="0.0" upper="0.785" velocity="100"/>
    <mimic joint="right_qbhand_index_middle_joint" multiplier="1.0"/>
  </joint>
  <link name="right_qbhand_index_middle_link">
    <inertial>
      <mass value="0.0063"/>
      <origin rpy="0 0 0" xyz="4.7601567e-03 -1.3786947e-03 0.0"/>
      <inertia ixx="1.8024201e-07" ixy="5.756798e-09" ixz="0.0" iyy="2.3516266e-07" iyz="0.0" izz="2.691504e-07"/>
    </inertial>
    <visual>
      <origin rpy="0 0 0" xyz="0 0 0"/>
      <geometry>
        <mesh filename="../meshes/qbhand/ph_short.stl" scale="0.001 0.001 0.001"/>
      </geometry>
      <material name="qbhand/middle"/>
    </visual>
    <collision>
      <origin rpy="0 0 0" xyz="0 0 0"/>
      <geometry>
        <mesh filename="../meshes/qbhand/ph_short_collision.stl" scale="0.001 0.001 0.001"/>
      </geometry>
    </collision>
  </link>
  <joint name="right_qbhand_index_distal_joint" type="revolute">
    <origin rpy="0 0 0" xyz="0.009 0 0"/>
    <parent link="right_qbhand_index_middle_link"/>
    <child link="right_qbhand_index_distal_virtual_link"/>
    <axis xyz="0 0 -1"/>
    <dynamics damping="0.0" friction="0.0"/>
    <limit effort="100" lower="0.0" upper="0.785" velocity="100"/>
    <mimic joint="right_qbhand_synergy_joint" multiplier="0.785"/>
  </joint>
  <link name="right_qbhand_index_distal_virtual_link">
    <inertial>
      <origin rpy="0 0 0" xyz="0 0 0"/>
      <mass value="1e-4"/>
      <inertia ixx="1e-9" ixy="0.0" ixz="0.0" iyy="1e-9" iyz="0.0" izz="1e-9"/>
    </inertial>
  </link>
  <joint name="right_qbhand_index_distal_virtual_joint" type="revolute">
    <origin rpy="0 0 0" xyz="0.013 0 0"/>
    <parent link="right_qbhand_index_distal_virtual_link"/>
    <child link="right_qbhand_index_distal_link"/>
    <axis xyz="0 0 -1"/>
    <dynamics damping="0.0" friction="0.0"/>
    <limit effort="100" lower="0.0" upper="0.785" velocity="100"/>
    <mimic joint="right_qbhand_index_distal_joint" multiplier="1.0"/>
  </joint>
  <link name="right_qbhand_index_distal_link">
    <inertial>
      <mass value="0.009"/>
      <origin rpy="0 0 0" xyz="8.8025467e-03 -1.7219289e-03 0.0"/>
      <inertia ixx="2.6586142e-07" ixy="1.2416847e-08" ixz="0.0" iyy="5.9935767e-07" iyz="0.0" izz="6.6781963e-07"/>
    </inertial>
    <visual>
      <origin rpy="0 0 0" xyz="0 0 0"/>
      <geometry>
        <mesh filename="../meshes/qbhand/ph_distal.stl" scale="0.001 0.001 0.001"/>
      </geometry>
      <material name="qbhand/distal"/>
    </visual>
    <collision>
      <origin rpy="0 0 0" xyz="0 0 0"/>
      <geometry>
        <mesh filename="../meshes/qbhand/ph_distal_collision.stl" scale="0.001 0.001 0.001"/>
      </geometry>
    </collision>
  </link>
  <joint name="right_qbhand_middle_knuckle_joint" type="revolute">
    <origin rpy="0 0 1.57" xyz="0 0 0.014"/>
    <parent link="right_qbhand_palm_link"/>
    <child link="right_qbhand_middle_knuckle_link"/>
    <axis xyz="0 0 -1"/>
    <dynamics damping="0.0" friction="0.0"/>
    <limit effort="100" lower="-0.524" upper="0.524" velocity="100"/>
    <mimic joint="right_qbhand_synergy_joint" multiplier="0.0"/>
  </joint>
  <link name="right_qbhand_middle_knuckle_link">
    <inertial>
      <mass value="0.0095"/>
      <origin rpy="0 0 0" xyz="4.2753603e-04  0.0 -1.4321738e-03"/>
      <inertia ixx="6.4337303e-07" ixy="0.0" ixz="-3.9373913e-08" iyy="1.1253771e-06" iyz="0.0" izz="7.2336948e-07"/>
    </inertial>
    <visual>
      <origin rpy="0 0 0" xyz="0 0 0"/>
      <geometry>
        <mesh filename="../meshes/qbhand/ph_knuckle.stl" scale="0.001 0.001 0.001"/>
      </geometry>
      <material name="qbhand/knuckle"/>
    </visual>
    <collision>
      <origin rpy="0 0 0" xyz="0 0 0"/>
      <geometry>
        <mesh filename="../meshes/qbhand/ph_knuckle_collision.stl" scale="0.001 0.001 0.001"/>
      </geometry>
    </collision>
  </link>
  <joint name="right_qbhand_middle_proximal_joint" type="revolute">
    <origin rpy="1.57 0 0" xyz="0.009 0 0"/>
    <parent link="right_qbhand_middle_knuckle_link"/>
    <child link="right_qbhand_middle_proximal_virtual_link"/>
    <axis xyz="0 0 -1"/>
    <dynamics damping="0.0" friction="0.0"/>
    <limit effort="100" lower="0.0" upper="0.785" velocity="100"/>
    <mimic joint="right_qbhand_synergy_joint" multiplier="0.785"/>
  </joint>
  <link name="right_qbhand_middle_proximal_virtual_link">
    <inertial>
      <origin rpy="0 0 0" xyz="0 0 0"/>
      <mass value="1e-4"/>
      <inertia ixx="1e-9" ixy="0.0" ixz="0.0" iyy="1e-9" iyz="0.0" izz="1e-9"/>
    </inertial>
  </link>
  <joint name="right_qbhand_middle_proximal_virtual_joint" type="revolute">
    <origin rpy="0 0 0" xyz="0.013 0 0"/>
    <parent link="right_qbhand_middle_proximal_virtual_link"/>
    <child link="right_qbhand_middle_proximal_link"/>
    <axis xyz="0 0 -1"/>
    <dynamics damping="0.0" friction="0.0"/>
    <limit effort="100" lower="0.0" upper="0.785" velocity="100"/>
    <mimic joint="right_qbhand_middle_proximal_joint" multiplier="1.0"/>
  </joint>
  <link name="right_qbhand_middle_proximal_link">
    <inertial>
      <mass value="0.0082"/>
      <origin rpy="0 0 0" xyz="8.7707437e-03 -1.7863138e-03 0.0"/>
      <inertia ixx="2.2722068e-07" ixy="1.1586053e-08" ixz="0.0" iyy="5.5947233e-07" iyz="0.0" izz="5.9562195e-07"/>
    </inertial>
    <visual>
      <origin rpy="0 0 0" xyz="0 0 0"/>
      <geometry>
        <mesh filename="../meshes/qbhand/ph_medium.stl" scale="0.001 0.001 0.001"/>
      </geometry>
      <material name="qbhand/proximal"/>
    </visual>
    <collision>
      <origin rpy="0 0 0" xyz="0 0 0"/>
      <geometry>
        <mesh filename="../meshes/qbhand/ph_medium_collision.stl" scale="0.001 0.001 0.001"/>
      </geometry>
    </collision>
  </link>
  <joint name="right_qbhand_middle_middle_joint" type="revolute">
    <origin rpy="0 0 0" xyz="0.017 0 0"/>
    <parent link="right_qbhand_middle_proximal_link"/>
    <child link="right_qbhand_middle_middle_virtual_link"/>
    <axis xyz="0 0 -1"/>
    <dynamics damping="0.0" friction="0.0"/>
    <limit effort="100" lower="0.0" upper="0.785" velocity="100"/>
    <mimic joint="right_qbhand_synergy_joint" multiplier="0.785"/>
  </joint>
  <link name="right_qbhand_middle_middle_virtual_link">
    <inertial>
      <origin rpy="0 0 0" xyz="0 0 0"/>
      <mass value="1e-4"/>
      <inertia ixx="1e-9" ixy="0.0" ixz="0.0" iyy="1e-9" iyz="0.0" izz="1e-9"/>
    </inertial>
  </link>
  <joint name="right_qbhand_middle_middle_virtual_joint" type="revolute">
    <origin rpy="0 0 0" xyz="0.013 0 0"/>
    <parent link="right_qbhand_middle_middle_virtual_link"/>
    <child link="right_qbhand_middle_middle_link"/>
    <axis xyz="0 0 -1"/>
    <dynamics damping="0.0" friction="0.0"/>
    <limit effort="100" lower="0.0" upper="0.785" velocity="100"/>
    <mimic joint="right_qbhand_middle_middle_joint" multiplier="1.0"/>
  </joint>
  <link name="right_qbhand_middle_middle_link">
    <inertial>
      <mass value="0.0063"/>
      <origin rpy="0 0 0" xyz="4.7601567e-03 -1.3786947e-03 0.0"/>
      <inertia ixx="1.8024201e-07" ixy="5.756798e-09" ixz="0.0" iyy="2.3516266e-07" iyz="0.0" izz="2.691504e-07"/>
    </inertial>
    <visual>
      <origin rpy="0 0 0" xyz="0 0 0"/>
      <geometry>
        <mesh filename="../meshes/qbhand/ph_short.stl" scale="0.001 0.001 0.001"/>
      </geometry>
      <material name="qbhand/middle"/>
    </visual>
    <collision>
      <origin rpy="0 0 0" xyz="0 0 0"/>
      <geometry>
        <mesh filename="../meshes/qbhand/ph_short_collision.stl" scale="0.001 0.001 0.001"/>
      </geometry>
    </collision>
  </link>
  <joint name="right_qbhand_middle_distal_joint" type="revolute">
    <origin rpy="0 0 0" xyz="0.009 0 0"/>
    <parent link="right_qbhand_middle_middle_link"/>
    <child link="right_qbhand_middle_distal_virtual_link"/>
    <axis xyz="0 0 -1"/>
    <dynamics damping="0.0" friction="0.0"/>
    <limit effort="100" lower="0.0" upper="0.785" velocity="100"/>
    <mimic joint="right_qbhand_synergy_joint" multiplier="0.785"/>
  </joint>
  <link name="right_qbhand_middle_distal_virtual_link">
    <inertial>
      <origin rpy="0 0 0" xyz="0 0 0"/>
      <mass value="1e-4"/>
      <inertia ixx="1e-9" ixy="0.0" ixz="0.0" iyy="1e-9" iyz="0.0" izz="1e-9"/>
    </inertial>
  </link>
  <joint name="right_qbhand_middle_distal_virtual_joint" type="revolute">
    <origin rpy="0 0 0" xyz="0.013 0 0"/>
    <parent link="right_qbhand_middle_distal_virtual_link"/>
    <child link="right_qbhand_middle_distal_link"/>
    <axis xyz="0 0 -1"/>
    <dynamics damping="0.0" friction="0.0"/>
    <limit effort="100" lower="0.0" upper="0.785" velocity="100"/>
    <mimic joint="right_qbhand_middle_distal_joint" multiplier="1.0"/>
  </joint>
  <link name="right_qbhand_middle_distal_link">
    <inertial>
      <mass value="0.009"/>
      <origin rpy="0 0 0" xyz="8.8025467e-03 -1.7219289e-03 0.0"/>
      <inertia ixx="2.6586142e-07" ixy="1.2416847e-08" ixz="0.0" iyy="5.9935767e-07" iyz="0.0" izz="6.6781963e-07"/>
    </inertial>
    <visual>
      <origin rpy="0 0 0" xyz="0 0 0"/>
      <geometry>
        <mesh filename="../meshes/qbhand/ph_distal.stl" scale="0.001 0.001 0.001"/>
      </geometry>
      <material name="qbhand/distal"/>
    </visual>
    <collision>
      <origin rpy="0 0 0" xyz="0 0 0"/>
      <geometry>
        <mesh filename="../meshes/qbhand/ph_distal_collision.stl" scale="0.001 0.001 0.001"/>
      </geometry>
    </collision>
  </link>
  <joint name="right_qbhand_ring_knuckle_joint" type="revolute">
    <origin rpy="0 0 1.57" xyz="0.02 -0.007 0.014"/>
    <parent link="right_qbhand_palm_link"/>
    <child link="right_qbhand_ring_knuckle_link"/>
    <axis xyz="0 0 -1"/>
    <dynamics damping="0.0" friction="0.0"/>
    <limit effort="100" lower="-0.524" upper="0.524" velocity="100"/>
    <mimic joint="right_qbhand_synergy_joint" multiplier="0.2"/>
  </joint>
  <link name="right_qbhand_ring_knuckle_link">
    <inertial>
      <mass value="0.0095"/>
      <origin rpy="0 0 0" xyz="4.2753603e-04  0.0 -1.4321738e-03"/>
      <inertia ixx="6.4337303e-07" ixy="0.0" ixz="-3.9373913e-08" iyy="1.1253771e-06" iyz="0.0" izz="7.2336948e-07"/>
    </inertial>
    <visual>
      <origin rpy="0 0 0" xyz="0 0 0"/>
      <geometry>
        <mesh filename="../meshes/qbhand/ph_knuckle.stl" scale="0.001 0.001 0.001"/>
      </geometry>
      <material name="qbhand/knuckle"/>
    </visual>
    <collision>
      <origin rpy="0 0 0" xyz="0 0 0"/>
      <geometry>
        <mesh filename="../meshes/qbhand/ph_knuckle_collision.stl" scale="0.001 0.001 0.001"/>
      </geometry>
    </collision>
  </link>
  <joint name="right_qbhand_ring_proximal_joint" type="revolute">
    <origin rpy="1.57 0 0" xyz="0.009 0 0"/>
    <parent link="right_qbhand_ring_knuckle_link"/>
    <child link="right_qbhand_ring_proximal_virtual_link"/>
    <axis xyz="0 0 -1"/>
    <dynamics damping="0.0" friction="0.0"/>
    <limit effort="100" lower="0.0" upper="0.785" velocity="100"/>
    <mimic joint="right_qbhand_synergy_joint" multiplier="0.785"/>
  </joint>
  <link name="right_qbhand_ring_proximal_virtual_link">
    <inertial>
      <origin rpy="0 0 0" xyz="0 0 0"/>
      <mass value="1e-4"/>
      <inertia ixx="1e-9" ixy="0.0" ixz="0.0" iyy="1e-9" iyz="0.0" izz="1e-9"/>
    </inertial>
  </link>
  <joint name="right_qbhand_ring_proximal_virtual_joint" type="revolute">
    <origin rpy="0 0 0" xyz="0.013 0 0"/>
    <parent link="right_qbhand_ring_proximal_virtual_link"/>
    <child link="right_qbhand_ring_proximal_link"/>
    <axis xyz="0 0 -1"/>
    <dynamics damping="0.0" friction="0.0"/>
    <limit effort="100" lower="0.0" upper="0.785" velocity="100"/>
    <mimic joint="right_qbhand_ring_proximal_joint" multiplier="1.0"/>
  </joint>
  <link name="right_qbhand_ring_proximal_link">
    <inertial>
      <mass value="0.0082"/>
      <origin rpy="0 0 0" xyz="8.7707437e-03 -1.7863138e-03 0.0"/>
      <inertia ixx="2.2722068e-07" ixy="1.1586053e-08" ixz="0.0" iyy="5.5947233e-07" iyz="0.0" izz="5.9562195e-07"/>
    </inertial>
    <visual>
      <origin rpy="0 0 0" xyz="0 0 0"/>
      <geometry>
        <mesh filename="../meshes/qbhand/ph_medium.stl" scale="0.001 0.001 0.001"/>
      </geometry>
      <material name="qbhand/proximal"/>
    </visual>
    <collision>
      <origin rpy="0 0 0" xyz="0 0 0"/>
      <geometry>
        <mesh filename="../meshes/qbhand/ph_medium_collision.stl" scale="0.001 0.001 0.001"/>
      </geometry>
    </collision>
  </link>
  <joint name="right_qbhand_ring_middle_joint" type="revolute">
    <origin rpy="0 0 0" xyz="0.017 0 0"/>
    <parent link="right_qbhand_ring_proximal_link"/>
    <child link="right_qbhand_ring_middle_virtual_link"/>
    <axis xyz="0 0 -1"/>
    <dynamics damping="0.0" friction="0.0"/>
    <limit effort="100" lower="0.0" upper="0.785" velocity="100"/>
    <mimic joint="right_qbhand_synergy_joint" multiplier="0.785"/>
  </joint>
  <link name="right_qbhand_ring_middle_virtual_link">
    <inertial>
      <origin rpy="0 0 0" xyz="0 0 0"/>
      <mass value="1e-4"/>
      <inertia ixx="1e-9" ixy="0.0" ixz="0.0" iyy="1e-9" iyz="0.0" izz="1e-9"/>
    </inertial>
  </link>
  <joint name="right_qbhand_ring_middle_virtual_joint" type="revolute">
    <origin rpy="0 0 0" xyz="0.013 0 0"/>
    <parent link="right_qbhand_ring_middle_virtual_link"/>
    <child link="right_qbhand_ring_middle_link"/>
    <axis xyz="0 0 -1"/>
    <dynamics damping="0.0" friction="0.0"/>
    <limit effort="100" lower="0.0" upper="0.785" velocity="100"/>
    <mimic joint="right_qbhand_ring_middle_joint" multiplier="1.0"/>
  </joint>
  <link name="right_qbhand_ring_middle_link">
    <inertial>
      <mass value="0.0063"/>
      <origin rpy="0 0 0" xyz="4.7601567e-03 -1.3786947e-03 0.0"/>
      <inertia ixx="1.8024201e-07" ixy="5.756798e-09" ixz="0.0" iyy="2.3516266e-07" iyz="0.0" izz="2.691504e-07"/>
    </inertial>
    <visual>
      <origin rpy="0 0 0" xyz="0 0 0"/>
      <geometry>
        <mesh filename="../meshes/qbhand/ph_short.stl" scale="0.001 0.001 0.001"/>
      </geometry>
      <material name="qbhand/middle"/>
    </visual>
    <collision>
      <origin rpy="0 0 0" xyz="0 0 0"/>
      <geometry>
        <mesh filename="../meshes/qbhand/ph_short_collision.stl" scale="0.001 0.001 0.001"/>
      </geometry>
    </collision>
  </link>
  <joint name="right_qbhand_ring_distal_joint" type="revolute">
    <origin rpy="0 0 0" xyz="0.009 0 0"/>
    <parent link="right_qbhand_ring_middle_link"/>
    <child link="right_qbhand_ring_distal_virtual_link"/>
    <axis xyz="0 0 -1"/>
    <dynamics damping="0.0" friction="0.0"/>
    <limit effort="100" lower="0.0" upper="0.785" velocity="100"/>
    <mimic joint="right_qbhand_synergy_joint" multiplier="0.785"/>
  </joint>
  <link name="right_qbhand_ring_distal_virtual_link">
    <inertial>
      <origin rpy="0 0 0" xyz="0 0 0"/>
      <mass value="1e-4"/>
      <inertia ixx="1e-9" ixy="0.0" ixz="0.0" iyy="1e-9" iyz="0.0" izz="1e-9"/>
    </inertial>
  </link>
  <joint name="right_qbhand_ring_distal_virtual_joint" type="revolute">
    <origin rpy="0 0 0" xyz="0.013 0 0"/>
    <parent link="right_qbhand_ring_distal_virtual_link"/>
    <child link="right_qbhand_ring_distal_link"/>
    <axis xyz="0 0 -1"/>
    <dynamics damping="0.0" friction="0.0"/>
    <limit effort="100" lower="0.0" upper="0.785" velocity="100"/>
    <mimic joint="right_qbhand_ring_distal_joint" multiplier="1.0"/>
  </joint>
  <link name="right_qbhand_ring_distal_link">
    <inertial>
      <mass value="0.009"/>
      <origin rpy="0 0 0" xyz="8.8025467e-03 -1.7219289e-03 0.0"/>
      <inertia ixx="2.6586142e-07" ixy="1.2416847e-08" ixz="0.0" iyy="5.9935767e-07" iyz="0.0" izz="6.6781963e-07"/>
    </inertial>
    <visual>
      <origin rpy="0 0 0" xyz="0 0 0"/>
      <geometry>
        <mesh filename="../meshes/qbhand/ph_distal.stl" scale="0.001 0.001 0.001"/>
      </geometry>
      <material name="qbhand/distal"/>
    </visual>
    <collision>
      <origin rpy="0 0 0" xyz="0 0 0"/>
      <geometry>
        <mesh filename="../meshes/qbhand/ph_distal_collision.stl" scale="0.001 0.001 0.001"/>
      </geometry>
    </collision>
  </link>
  <joint name="right_qbhand_little_knuckle_joint" type="revolute">
    <origin rpy="0 0 1.57" xyz="0.04 -0.012 0.014"/>
    <parent link="right_qbhand_palm_link"/>
    <child link="right_qbhand_little_knuckle_link"/>
    <axis xyz="0 0 -1"/>
    <dynamics damping="0.0" friction="0.0"/>
    <limit effort="100" lower="-0.524" upper="0.524" velocity="100"/>
    <mimic joint="right_qbhand_synergy_joint" multiplier="0.4"/>
  </joint>
  <link name="right_qbhand_little_knuckle_link">
    <inertial>
      <mass value="0.0095"/>
      <origin rpy="0 0 0" xyz="4.2753603e-04  0.0 -1.4321738e-03"/>
      <inertia ixx="6.4337303e-07" ixy="0.0" ixz="-3.9373913e-08" iyy="1.1253771e-06" iyz="0.0" izz="7.2336948e-07"/>
    </inertial>
    <visual>
      <origin rpy="0 0 0" xyz="0 0 0"/>
      <geometry>
        <mesh filename="../meshes/qbhand/ph_knuckle.stl" scale="0.001 0.001 0.001"/>
      </geometry>
      <material name="qbhand/knuckle"/>
    </visual>
    <collision>
      <origin rpy="0 0 0" xyz="0 0 0"/>
      <geometry>
        <mesh filename="../meshes/qbhand/ph_knuckle_collision.stl" scale="0.001 0.001 0.001"/>
      </geometry>
    </collision>
  </link>
  <joint name="right_qbhand_little_proximal_joint" type="revolute">
    <origin rpy="1.57 0 0" xyz="0.009 0 0"/>
    <parent link="right_qbhand_little_knuckle_link"/>
    <child link="right_qbhand_little_proximal_virtual_link"/>
    <axis xyz="0 0 -1"/>
    <dynamics damping="0.0" friction="0.0"/>
    <limit effort="100" lower="0.0" upper="0.785" velocity="100"/>
    <mimic joint="right_qbhand_synergy_joint" multiplier="0.785"/>
  </joint>
  <link name="right_qbhand_little_proximal_virtual_link">
    <inertial>
      <origin rpy="0 0 0" xyz="0 0 0"/>
      <mass value="1e-4"/>
      <inertia ixx="1e-9" ixy="0.0" ixz="0.0" iyy="1e-9" iyz="0.0" izz="1e-9"/>
    </inertial>
  </link>
  <joint name="right_qbhand_little_proximal_virtual_joint" type="revolute">
    <origin rpy="0 0 0" xyz="0.013 0 0"/>
    <parent link="right_qbhand_little_proximal_virtual_link"/>
    <child link="right_qbhand_little_proximal_link"/>
    <axis xyz="0 0 -1"/>
    <dynamics damping="0.0" friction="0.0"/>
    <limit effort="100" lower="0.0" upper="0.785" velocity="100"/>
    <mimic joint="right_qbhand_little_proximal_joint" multiplier="1.0"/>
  </joint>
  <link name="right_qbhand_little_proximal_link">
    <inertial>
      <mass value="0.0063"/>
      <origin rpy="0 0 0" xyz="4.7601567e-03 -1.3786947e-03 0.0"/>
      <inertia ixx="1.8024201e-07" ixy="5.756798e-09" ixz="0.0" iyy="2.3516266e-07" iyz="0.0" izz="2.691504e-07"/>
    </inertial>
    <visual>
      <origin rpy="0 0 0" xyz="0 0 0"/>
      <geometry>
        <mesh filename="../meshes/qbhand/ph_short.stl" scale="0.001 0.001 0.001"/>
      </geometry>
      <material name="qbhand/proximal"/>
    </visual>
    <collision>
      <origin rpy="0 0 0" xyz="0 0 0"/>
      <geometry>
        <mesh filename="../meshes/qbhand/ph_short_collision.stl" scale="0.001 0.001 0.001"/>
      </geometry>
    </collision>
  </link>
  <joint name="right_qbhand_little_middle_joint" type="revolute">
    <origin rpy="0 0 0" xyz="0.009 0 0"/>
    <parent link="right_qbhand_little_proximal_link"/>
    <child link="right_qbhand_little_middle_virtual_link"/>
    <axis xyz="0 0 -1"/>
    <dynamics damping="0.0" friction="0.0"/>
    <limit effort="100" lower="0.0" upper="0.785" velocity="100"/>
    <mimic joint="right_qbhand_synergy_joint" multiplier="0.785"/>
  </joint>
  <link name="right_qbhand_little_middle_virtual_link">
    <inertial>
      <origin rpy="0 0 0" xyz="0 0 0"/>
      <mass value="1e-4"/>
      <inertia ixx="1e-9" ixy="0.0" ixz="0.0" iyy="1e-9" iyz="0.0" izz="1e-9"/>
    </inertial>
  </link>
  <joint name="right_qbhand_little_middle_virtual_joint" type="revolute">
    <origin rpy="0 0 0" xyz="0.013 0 0"/>
    <parent link="right_qbhand_little_middle_virtual_link"/>
    <child link="right_qbhand_little_middle_link"/>
    <axis xyz="0 0 -1"/>
    <dynamics damping="0.0" friction="0.0"/>
    <limit effort="100" lower="0.0" upper="0.785" velocity="100"/>
    <mimic joint="right_qbhand_little_middle_joint" multiplier="1.0"/>
  </joint>
  <link name="right_qbhand_little_middle_link">
    <inertial>
      <mass value="0.0063"/>
      <origin rpy="0 0 0" xyz="4.7601567e-03 -1.3786947e-03 0.0"/>
      <inertia ixx="1.8024201e-07" ixy="5.756798e-09" ixz="0.0" iyy="2.3516266e-07" iyz="0.0" izz="2.691504e-07"/>
    </inertial>
    <visual>
      <origin rpy="0 0 0" xyz="0 0 0"/>
      <geometry>
        <mesh filename="../meshes/qbhand/ph_short.stl" scale="0.001 0.001 0.001"/>
      </geometry>
      <material name="qbhand/middle"/>
    </visual>
    <collision>
      <origin rpy="0 0 0" xyz="0 0 0"/>
      <geometry>
        <mesh filename="../meshes/qbhand/ph_short_collision.stl" scale="0.001 0.001 0.001"/>
      </geometry>
    </collision>
  </link>
  <joint name="right_qbhand_little_distal_joint" type="revolute">
    <origin rpy="0 0 0" xyz="0.009 0 0"/>
    <parent link="right_qbhand_little_middle_link"/>
    <child link="right_qbhand_little_distal_virtual_link"/>
    <axis xyz="0 0 -1"/>
    <dynamics damping="0.0" friction="0.0"/>
    <limit effort="100" lower="0.0" upper="0.785" velocity="100"/>
    <mimic joint="right_qbhand_synergy_joint" multiplier="0.785"/>
  </joint>
  <link name="right_qbhand_little_distal_virtual_link">
    <inertial>
      <origin rpy="0 0 0" xyz="0 0 0"/>
      <mass value="1e-4"/>
      <inertia ixx="1e-9" ixy="0.0" ixz="0.0" iyy="1e-9" iyz="0.0" izz="1e-9"/>
    </inertial>
  </link>
  <joint name="right_qbhand_little_distal_virtual_joint" type="revolute">
    <origin rpy="0 0 0" xyz="0.013 0 0"/>
    <parent link="right_qbhand_little_distal_virtual_link"/>
    <child link="right_qbhand_little_distal_link"/>
    <axis xyz="0 0 -1"/>
    <dynamics damping="0.0" friction="0.0"/>
    <limit effort="100" lower="0.0" upper="0.785" velocity="100"/>
    <mimic joint="right_qbhand_little_distal_joint" multiplier="1.0"/>
  </joint>
  <link name="right_qbhand_little_distal_link">
    <inertial>
      <mass value="0.009"/>
      <origin rpy="0 0 0" xyz="8.8025467e-03 -1.7219289e-03 0.0"/>
      <inertia ixx="2.6586142e-07" ixy="1.2416847e-08" ixz="0.0" iyy="5.9935767e-07" iyz="0.0" izz="6.6781963e-07"/>
    </inertial>
    <visual>
      <origin rpy="0 0 0" xyz="0 0 0"/>
      <geometry>
        <mesh filename="../meshes/qbhand/ph_distal.stl" scale="0.001 0.001 0.001"/>
      </geometry>
      <material name="qbhand/distal"/>
    </visual>
    <collision>
      <origin rpy="0 0 0" xyz="0 0 0"/>
      <geometry>
        <mesh filename="../meshes/qbhand/ph_distal_collision.stl" scale="0.001 0.001 0.001"/>
      </geometry>
    </collision>
  </link>
  <joint name="right_qbhand_end_effector_fixed_joint" type="fixed">
    <origin rpy="-1.57 0 0" xyz="-0.03 0.060 0.142"/>
    <parent link="right_qbhand_base_link"/>
    <child link="right_qbhand_end_effector_link"/>
  </joint>
  <link name="right_qbhand_end_effector_link"/>
</robot>
